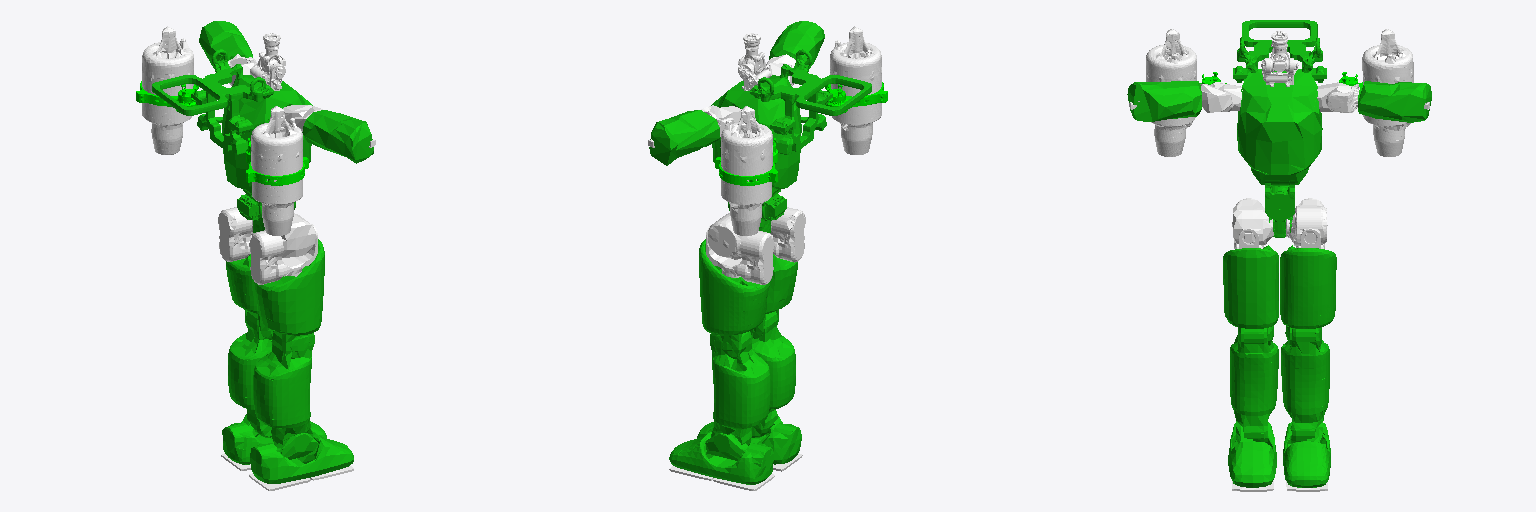
--- What the picture shows (computed from the rendered views, not written in the file) ---
The picture shows the robot from 3 angles, left to right: view 1: azimuth 30°, elevation 25°; view 2: azimuth 150°, elevation 25°; view 3: azimuth 270°, elevation 25°; orthographic projection.
Robot: iCub — 64 links, 63 joints (26 revolute, 37 fixed); root link root_link; default pose: all joints at 0 but 2 set to mid-range because 0 is outside their limits (l_shoulder_roll = 1.53, r_shoulder_roll = 1.53).
Links seen in each view (by area): view 1: r_lower_leg, chest_r_jet_turbine, chest_jetpack, r_hip_3, chest_l_jet_turbine, r_ankle_2, l_lower_leg, chest, r_upper_arm, r_hip_2, l_hip_2, l_upper_arm (+8 smaller); view 2: l_lower_leg, chest_l_jet_turbine, chest_jetpack, l_hip_3, chest_r_jet_turbine, l_ankle_2, r_lower_leg, chest, l_upper_arm, l_hip_2, r_hip_2, r_upper_arm (+7 smaller); view 3: chest, r_lower_leg, l_lower_leg, l_hip_3, r_hip_3, chest_l_jet_turbine, chest_r_jet_turbine, chest_jetpack, r_upper_arm, l_upper_arm, l_ankle_2, r_ankle_2 (+7 smaller).
Link boxes in pixels (x1,y1,x2,y2): r_lower_leg: [253, 331, 312, 445]; chest_r_jet_turbine: [251, 106, 302, 235]; chest_jetpack: [152, 49, 273, 154]; r_hip_3: [254, 239, 324, 335]; chest_l_jet_turbine: [142, 26, 193, 154]; r_ankle_2: [250, 431, 353, 483]; l_lower_leg: [228, 311, 271, 437]; chest: [222, 75, 312, 188]; r_upper_arm: [302, 110, 373, 163]; r_hip_2: [249, 224, 317, 284]; l_hip_2: [218, 207, 252, 261]; l_upper_arm: [199, 21, 252, 68]; l_lower_leg: [711, 331, 770, 445]; chest_l_jet_turbine: [720, 106, 772, 235]; chest_jetpack: [750, 49, 871, 154]; l_hip_3: [699, 239, 769, 335]; chest_r_jet_turbine: [830, 26, 881, 154]; l_ankle_2: [669, 432, 773, 484]; r_lower_leg: [752, 311, 795, 437]; chest: [711, 75, 801, 188]; l_upper_arm: [649, 110, 719, 165]; l_hip_2: [706, 225, 774, 284]; r_hip_2: [771, 207, 805, 262]; r_upper_arm: [769, 21, 824, 68]; chest: [1237, 69, 1322, 174]; r_lower_leg: [1230, 327, 1278, 443]; l_lower_leg: [1281, 327, 1329, 443]; l_hip_3: [1280, 245, 1336, 328]; r_hip_3: [1223, 245, 1278, 328]; chest_l_jet_turbine: [1362, 29, 1413, 156]; chest_r_jet_turbine: [1146, 29, 1196, 156]; chest_jetpack: [1233, 20, 1326, 82]; r_upper_arm: [1127, 81, 1201, 121]; l_upper_arm: [1358, 81, 1431, 122]; l_ankle_2: [1283, 422, 1330, 487]; r_ankle_2: [1228, 422, 1276, 487].
Size in the robot's own frame: 0.4587 by 0.727 by 1.13 metres.
Meshes: 43 distinct files referenced, 40 mesh visuals loaded (40 ASCII STL); not drawn: 3 (reference not matched to a file when rendering), 4 (reference in a form the renderer does not follow; not among the files counted above).

The robot description file, URDF, robot "iCub":
<robot name="iCub">
  <link name="root_link">
    <inertial>
      <origin xyz="0.0035506 -0.00014959200000000001 0.024519000000000013" rpy="0 0 -1.5707963267948966"/>
      <mass value="2.5751"/>
      <inertia ixx="0.004051489764137304" ixy="-2.0525354991945143e-06" ixz="-1.200186769383287e-05" iyy="0.004466379288694287" iyz="0.00011702292411912923" izz="0.002537512875376926"/>
    </inertial>
    <visual>
      <origin xyz="0 0 0.313858" rpy="0 0 -1.5707963267948966"/>
      <geometry>
        <mesh filename="package://iRonCub-Mk3/iRonCub/meshes/stl/sim_icub3_root_link_prt.stl" scale="0.001 0.001 0.001"/>
      </geometry>
      <material name="green">
        <color rgba="0.1 0.8 0.1 1"/>
      </material>
    </visual>
    <collision>
      <origin xyz="0 0 0.313858" rpy="0 0 -1.5707963267948966"/>
      <geometry>
        <mesh filename="package://iRonCub-Mk3/iRonCub/meshes/stl/sim_icub3_root_link_prt.stl" scale="0.001 0.001 0.001"/>
      </geometry>
    </collision>
  </link>
  <link name="l_hip_1">
    <inertial>
      <origin xyz="-0.004074100000000001 0.028123299999999997 -0.0007250000000000312" rpy="0 0 -1.5707963267948966"/>
      <mass value="2.1611"/>
      <inertia ixx="0.002595352643142238" ixy="-6.263538591577025e-05" ixz="2.7731363927618977e-06" iyy="0.0021193350821535318" iyz="-1.2725390435109447e-05" izz="0.0023619854835245473"/>
    </inertial>
    <visual>
      <origin xyz="-0.021600000000000064 -0.04044999999999981 0.31385800000000025" rpy="0 0 -1.5707963267948966"/>
      <geometry>
        <mesh filename="package://iRonCub-Mk3/iRonCub/meshes/stl/sim_icub3_l_hip_1_prt.stl" scale="0.001 0.001 0.001"/>
      </geometry>
      <material name="black">
        <color rgba="1 1 1 1"/>
      </material>
    </visual>
    <collision>
      <origin xyz="-0.021600000000000064 -0.04044999999999981 0.31385800000000025" rpy="0 0 -1.5707963267948966"/>
      <geometry>
        <mesh filename="package://iRonCub-Mk3/iRonCub/meshes/stl/sim_icub3_l_hip_1_prt.stl" scale="0.001 0.001 0.001"/>
      </geometry>
    </collision>
  </link>
  <joint name="l_hip_pitch" type="revolute">
    <origin xyz="0.0216 0.04045000000000001 0" rpy="0 0 0"/>
    <axis xyz="0.0 -1.0 0.0"/>
    <parent link="root_link"/>
    <child link="l_hip_1"/>
    <limit effort="50000" lower="-0.7853981633974483" upper="2.007128639793479" velocity="120.0"/>
    <dynamics damping="2.0" friction="0.0"/>
  </joint>
  <link name="l_hip_2">
    <inertial>
      <origin xyz="-0.003963800000000003 5.489999999999662e-05 -0.037538000000000016" rpy="0 0 -1.5707963267948966"/>
      <mass value="1.7731"/>
      <inertia ixx="0.005228411714595798" ixy="-4.083551966339624e-06" ixz="3.1651054869901453e-06" iyy="0.0029657585348029296" iyz="0.0009461829267401466" izz="0.0032766682222500967"/>
    </inertial>
    <visual>
      <origin xyz="0.025649999999999822 -0.07354999999999978 0.3228580000000002" rpy="0 0 -1.5707963267948966"/>
      <geometry>
        <mesh filename="package://iRonCub-Mk3/iRonCub/meshes/stl/sim_icub3_l_hip_2_prt.stl" scale="0.001 0.001 0.001"/>
      </geometry>
      <material name="red">
        <color rgba="1 1 1 1"/>
      </material>
    </visual>
    <collision>
      <origin xyz="0.025649999999999822 -0.07354999999999978 0.3228580000000002" rpy="0 0 -1.5707963267948966"/>
      <geometry>
        <mesh filename="package://iRonCub-Mk3/iRonCub/meshes/stl/sim_icub3_l_hip_2_prt.stl" scale="0.001 0.001 0.001"/>
      </geometry>
    </collision>
  </link>
  <joint name="l_hip_roll" type="revolute">
    <origin xyz="-0.04725 0.0331 -0.009000000000000008" rpy="0 0 0"/>
    <axis xyz="1.0 0.0 0.0"/>
    <parent link="l_hip_1"/>
    <child link="l_hip_2"/>
    <limit effort="50000" lower="-0.17453292519943295" upper="1.9547687622336491" velocity="120.0"/>
    <dynamics damping="2.0" friction="0.0"/>
  </joint>
  <link name="l_hip_3">
    <inertial>
      <origin xyz="0.0024416999999999998 -0.012306900000000003 -0.03819900000000004" rpy="0 0 -1.5707963267948966"/>
      <mass value="2.43975"/>
      <inertia ixx="0.0044412883972056874" ixy="3.3190647191151945e-06" ixz="-0.0001500433647365573" iyy="0.004161531735667295" iyz="1.0495343014441162e-05" izz="0.004168493190874654"/>
    </inertial>
    <visual>
      <origin xyz="-0.011050000000000178 -0.07354999999999977 0.41255800000000004" rpy="0 0 -1.5707963267948966"/>
      <geometry>
        <mesh filename="package://iRonCub-Mk3/iRonCub/meshes/stl/sim_icub3_l_hip_3_prt.stl" scale="0.001 0.001 0.001"/>
      </geometry>
      <material name="blue">
        <color rgba="0.1 0.8 0.1 1"/>
      </material>
    </visual>
    <collision>
      <origin xyz="-0.011050000000000178 -0.07354999999999977 0.41255800000000004" rpy="0 0 -1.5707963267948966"/>
      <geometry>
        <mesh filename="package://iRonCub-Mk3/iRonCub/meshes/stl/sim_icub3_l_hip_3_prt.stl" scale="0.001 0.001 0.001"/>
      </geometry>
    </collision>
  </link>
  <joint name="l_leg_ft_sensor" type="fixed">
    <origin xyz="0.036699999999999997 0 -0.08969999999999995" rpy="0 0 0"/>
    <parent link="l_hip_2"/>
    <child link="l_hip_3"/>
    <dynamics damping="0.1"/>
  </joint>
  <link name="l_upper_leg">
    <inertial>
      <origin xyz="0.005238099999999999 0.001499300000000009 -0.0518519999999999" rpy="0 0 -1.5707963267948966"/>
      <mass value="0.90926"/>
      <inertia ixx="0.0018580448030305287" ixy="2.4769869343548534e-05" ixz="-9.921040799831542e-05" iyy="0.0023253336863419895" iyz="0.00021961146368491691" izz="0.0010116953240355718"/>
    </inertial>
    <visual>
      <origin xyz="-0.011050000000000167 -0.05854999999999983 0.48345800000000017" rpy="0 0 -1.5707963267948966"/>
      <geometry>
        <mesh filename="package://iRonCub-Mk3/iRonCub/meshes/stl/sim_icub3_l_upper_leg_prt.stl" scale="0.001 0.001 0.001"/>
      </geometry>
      <material name="yellow">
        <color rgba="0.1 0.8 0.1 1"/>
      </material>
    </visual>
    <collision>
      <origin xyz="-0.011050000000000167 -0.05854999999999983 0.48345800000000017" rpy="0 0 -1.5707963267948966"/>
      <geometry>
        <mesh filename="package://iRonCub-Mk3/iRonCub/meshes/stl/sim_icub3_l_upper_leg_prt.stl" scale="0.001 0.001 0.001"/>
      </geometry>
    </collision>
  </link>
  <joint name="l_hip_yaw" type="revolute">
    <origin xyz="0 -0.015000000000000006 -0.07090000000000007" rpy="0 0 0"/>
    <axis xyz="0.0 0.0 1.0"/>
    <parent link="l_hip_3"/>
    <child link="l_upper_leg"/>
    <limit effort="50000" lower="-1.3962634015954636" upper="1.3962634015954636" velocity="120.0"/>
    <dynamics damping="2.0" friction="0.0"/>
  </joint>
  <link name="l_lower_leg">
    <inertial>
      <origin xyz="-0.0132211 -0.022063200000000005 -0.12639599999999995" rpy="0 0 -1.5707963267948966"/>
      <mass value="5.3241"/>
      <inertia ixx="0.05824701558729114" ixy="0.00010624602688798144" ixz="0.00032177799357201414" iyy="0.055706072617469723" iyz="-0.00018962183345080946" izz="0.006070627555679843"/>
    </inertial>
    <visual>
      <origin xyz="-0.026050000000000243 -0.08344999999999969 0.5896580000000001" rpy="0 0 -1.5707963267948966"/>
      <geometry>
        <mesh filename="package://iRonCub-Mk3/iRonCub/meshes/stl/sim_icub3_l_lower_leg_prt.stl" scale="0.001 0.001 0.001"/>
      </geometry>
      <material name="pink">
        <color rgba="0.1 0.8 0.1 1"/>
      </material>
    </visual>
    <collision>
      <origin xyz="-0.026050000000000243 -0.08344999999999969 0.5896580000000001" rpy="0 0 -1.5707963267948966"/>
      <geometry>
        <mesh filename="package://iRonCub-Mk3/iRonCub/meshes/stl/sim_icub3_l_lower_leg_prt.stl" scale="0.001 0.001 0.001"/>
      </geometry>
    </collision>
  </link>
  <joint name="l_knee" type="revolute">
    <origin xyz="0.015 0.024900000000000012 -0.10619999999999996" rpy="0 0 0"/>
    <axis xyz="0.0 -1.0 0.0"/>
    <parent link="l_upper_leg"/>
    <child link="l_lower_leg"/>
    <limit effort="50000" lower="-1.2217304763960306" upper="0.08726646259971647" velocity="120.0"/>
    <dynamics damping="2.0" friction="0.0"/>
  </joint>
  <link name="l_ankle_1">
    <inertial>
      <origin xyz="-0.0056708999999999996 -0.0004776000000000086 -0.015197000000000016" rpy="0 0 -1.5707963267948966"/>
      <mass value="0.36569"/>
      <inertia ixx="0.0006919069701304677" ixy="3.642221266176245e-05" ixz="6.0306968718434186e-05" iyy="0.00029801214087017225" iyz="-2.6804257582408287e-05" izz="0.0005496547611177806"/>
    </inertial>
    <visual>
      <origin xyz="-0.026050000000000052 -0.08295000000000005 0.8456470000000003" rpy="0 0 -1.5707963267948966"/>
      <geometry>
        <mesh filename="package://iRonCub-Mk3/iRonCub/meshes/stl/sim_icub3_l_ankle_1_prt.stl" scale="0.001 0.001 0.001"/>
      </geometry>
      <material name="cyan">
        <color rgba="0.1 0.8 0.1 1"/>
      </material>
    </visual>
    <collision>
      <origin xyz="-0.026050000000000052 -0.08295000000000005 0.8456470000000003" rpy="0 0 -1.5707963267948966"/>
      <geometry>
        <mesh filename="package://iRonCub-Mk3/iRonCub/meshes/stl/sim_icub3_l_ankle_1_prt.stl" scale="0.001 0.001 0.001"/>
      </geometry>
    </collision>
  </link>
  <joint name="l_ankle_pitch" type="revolute">
    <origin xyz="0 -0.0005000000000000004 -0.255989" rpy="0 0 0"/>
    <axis xyz="0.0 1.0 0.0"/>
    <parent link="l_lower_leg"/>
    <child link="l_ankle_1"/>
    <limit effort="50000" lower="-0.7853981633974483" upper="0.7853981633974483" velocity="120.0"/>
    <dynamics damping="2.0" friction="0.0"/>
  </joint>
  <link name="l_ankle_2">
    <inertial>
      <origin xyz="0.0417048 -5.500000000001337e-05 -0.02565099999999998" rpy="0 0 -1.5707963267948966"/>
      <mass value="1.53465"/>
      <inertia ixx="0.008276628548706496" ixy="5.786254688421673e-06" ixz="-4.092109028187411e-06" iyy="0.0017004608262408357" iyz="0.0012330199976826493" izz="0.008063087568467178"/>
    </inertial>
    <visual>
      <origin xyz="0.026699999999999342 -0.0647500000000001 0.8806470000000008" rpy="0 0 -1.5707963267948966"/>
      <geometry>
        <mesh filename="package://iRonCub-Mk3/iRonCub/meshes/stl/sim_icub3_l_ankle_2_prt.stl" scale="0.001 0.001 0.001"/>
      </geometry>
      <material name="green">
        <color rgba="0.1 0.8 0.1 1"/>
      </material>
    </visual>
    <collision>
      <origin xyz="0.026699999999999342 -0.0647500000000001 0.8806470000000008" rpy="0 0 -1.5707963267948966"/>
      <geometry>
        <mesh filename="package://iRonCub-Mk3/iRonCub/meshes/stl/sim_icub3_l_ankle_2_prt.stl" scale="0.001 0.001 0.001"/>
      </geometry>
    </collision>
  </link>
  <joint name="l_ankle_roll" type="revolute">
    <origin xyz="-0.052750000000000005 -0.018200000000000008 -0.03500000000000003" rpy="0 0 0"/>
    <axis xyz="1.0 0.0 0.0"/>
    <parent link="l_ankle_1"/>
    <child link="l_ankle_2"/>
    <limit effort="50000" lower="-0.4363323129985824" upper="0.4363323129985824" velocity="120.0"/>
    <dynamics damping="2.0" friction="0.0"/>
  </joint>
  <link name="l_foot_rear">
    <inertial>
      <origin xyz="0.0005056000000000001 3.350000000000575e-05 0.003658999999999968" rpy="0 0 -1.5707963267948966"/>
      <mass value="0.17851"/>
      <inertia ixx="0.00028386984946481193" ixy="-3.8140209422126887e-07" ixz="3.3779281136245455e-06" iyy="0.00022675202580603227" iyz="8.141588837428499e-06" izz="0.00036516477016163983"/>
    </inertial>
    <visual>
      <origin xyz="0.010699999999999342 -0.06475000000000009 0.9464470000000004" rpy="0 0 -1.5707963267948966"/>
      <geometry>
        <mesh filename="package://iRonCub-Mk3/iRonCub/meshes/stl/sim_icub3_l_foot_rear_prt.stl" scale="0.001 0.001 0.001"/>
      </geometry>
      <material name="l_foot_rear_color">
        <color rgba="1.0 1.0 1.0 1.0"/>
      </material>
    </visual>
    <collision>
      <origin xyz="0.010699999999999342 -0.06475000000000009 0.9464470000000004" rpy="0 0 -1.5707963267948966"/>
      <geometry>
        <mesh filename="package://iRonCub-Mk3/iRonCub/meshes/stl/sim_icub3_l_foot_rear_prt.stl" scale="0.001 0.001 0.001"/>
      </geometry>
    </collision>
  </link>
  <joint name="l_foot_rear_ft_sensor" type="fixed">
    <origin xyz="0.016 0 -0.06579999999999997" rpy="0 0 0"/>
    <parent link="l_ankle_2"/>
    <child link="l_foot_rear"/>
    <dynamics damping="0.1"/>
  </joint>
  <link name="l_sole"/>
  <joint name="l_sole_fixed_joint" type="fixed">
    <origin xyz="0.05963 0 0" rpy="0 0 0"/>
    <parent link="l_foot_rear"/>
    <child link="l_sole"/>
    <dynamics damping="0.1"/>
  </joint>
  <link name="l_sole_3"/>
  <joint name="l_sole_3_fixed_joint" type="fixed">
    <origin xyz="-0.035 -0.02475 0" rpy="0 0 0"/>
    <parent link="l_foot_rear"/>
    <child link="l_sole_3"/>
    <dynamics damping="0.1"/>
  </joint>
  <link name="l_sole_4"/>
  <joint name="l_sole_4_fixed_joint" type="fixed">
    <origin xyz="-0.035 0.03025 0" rpy="0 0 0"/>
    <parent link="l_foot_rear"/>
    <child link="l_sole_4"/>
    <dynamics damping="0.1"/>
  </joint>
  <link name="l_foot_front">
    <inertial>
      <origin xyz="7.700000000000762e-05 -3.990000000000937e-05 0.004256999999999955" rpy="0 0 -1.5707963267948966"/>
      <mass value="0.17896"/>
      <inertia ixx="0.00032486721722121964" ixy="3.5467003209527003e-07" ixz="2.7144049104682455e-07" iyy="0.00025600096782908466" iyz="3.4960507170104935e-05" izz="0.00037767895393194076"/>
    </inertial>
    <visual>
      <origin xyz="-0.10855000000000063 -0.06475000000000009 0.9464470000000004" rpy="0 0 -1.5707963267948966"/>
      <geometry>
        <mesh filename="package://iRonCub-Mk3/iRonCub/meshes/stl/sim_icub3_l_foot_front_prt.stl" scale="0.001 0.001 0.001"/>
      </geometry>
      <material name="l_foot_front_color">
        <color rgba="1.0 1.0 1.0 1.0"/>
      </material>
    </visual>
    <collision>
      <origin xyz="-0.10855000000000063 -0.06475000000000009 0.9464470000000004" rpy="0 0 -1.5707963267948966"/>
      <geometry>
        <mesh filename="package://iRonCub-Mk3/iRonCub/meshes/stl/sim_icub3_l_foot_front_prt.stl" scale="0.001 0.001 0.001"/>
      </geometry>
    </collision>
  </link>
  <joint name="l_foot_front_ft_sensor" type="fixed">
    <origin xyz="0.13524999999999998 0 -0.06579999999999997" rpy="0 0 0"/>
    <parent link="l_ankle_2"/>
    <child link="l_foot_front"/>
    <dynamics damping="0.1"/>
  </joint>
  <link name="l_sole_1"/>
  <joint name="l_sole_1_fixed_joint" type="fixed">
    <origin xyz="0.02500000000000001 0.025249999999999995 0" rpy="0 0 0"/>
    <parent link="l_foot_front"/>
    <child link="l_sole_1"/>
    <dynamics damping="0.1"/>
  </joint>
  <link name="l_sole_2"/>
  <joint name="l_sole_2_fixed_joint" type="fixed">
    <origin xyz="0.02500000000000001 -0.02475 0" rpy="0 0 0"/>
    <parent link="l_foot_front"/>
    <child link="l_sole_2"/>
    <dynamics damping="0.1"/>
  </joint>
  <link name="r_hip_1">
    <inertial>
      <origin xyz="-0.004106499999999999 -0.02810980000000001 -0.0008360000000000034" rpy="0 0 -1.5707963267948966"/>
      <mass value="2.1623"/>
      <inertia ixx="0.002675989970439473" ixy="6.426984653122192e-05" ixz="-6.447456052305588e-06" iyy="0.0021990073364667796" iyz="-1.5695577440979572e-05" izz="0.002366627191660443"/>
    </inertial>
    <visual>
      <origin xyz="-0.0216 0.04054999999999986 0.313858" rpy="0 0 -1.5707963267948966"/>
      <geometry>
        <mesh filename="package://iRonCub-Mk3/iRonCub/meshes/stl/sim_icub3_r_hip_1_prt.stl" scale="0.001 0.001 0.001"/>
      </geometry>
      <material name="white">
        <color rgba="1 1 1 1"/>
      </material>
    </visual>
    <collision>
      <origin xyz="-0.0216 0.04054999999999986 0.313858" rpy="0 0 -1.5707963267948966"/>
      <geometry>
        <mesh filename="package://iRonCub-Mk3/iRonCub/meshes/stl/sim_icub3_r_hip_1_prt.stl" scale="0.001 0.001 0.001"/>
      </geometry>
    </collision>
  </link>
  <joint name="r_hip_pitch" type="revolute">
    <origin xyz="0.0216 -0.040549999999999996 0" rpy="0 0 0"/>
    <axis xyz="0.0 -1.0 0.0"/>
    <parent link="root_link"/>
    <child link="r_hip_1"/>
    <limit effort="50000" lower="-0.7853981633974483" upper="2.007128639793479" velocity="120.0"/>
    <dynamics damping="2.0" friction="0.0"/>
  </joint>
  <link name="r_hip_2">
    <inertial>
      <origin xyz="-0.003963499999999998 -7.010000000000349e-05 -0.03753499999999993" rpy="0 0 -1.5707963267948966"/>
      <mass value="1.7731"/>
      <inertia ixx="0.005229204654206729" ixy="4.628243459077994e-06" ixz="-3.2636330686460046e-06" iyy="0.0029659325947175245" iyz="0.0009467254134739666" izz="0.00327641680237346"/>
    </inertial>
    <visual>
      <origin xyz="0.025699999999999973 0.07364999999999984 0.3228580000000001" rpy="0 0 -1.5707963267948966"/>
      <geometry>
        <mesh filename="package://iRonCub-Mk3/iRonCub/meshes/stl/sim_icub3_r_hip_2_prt.stl" scale="0.001 0.001 0.001"/>
      </geometry>
      <material name="dblue">
        <color rgba="1 1 1 1"/>
      </material>
    </visual>
    <collision>
      <origin xyz="0.025699999999999973 0.07364999999999984 0.3228580000000001" rpy="0 0 -1.5707963267948966"/>
      <geometry>
        <mesh filename="package://iRonCub-Mk3/iRonCub/meshes/stl/sim_icub3_r_hip_2_prt.stl" scale="0.001 0.001 0.001"/>
      </geometry>
    </collision>
  </link>
  <joint name="r_hip_roll" type="revolute">
    <origin xyz="-0.0473 -0.03310000000000001 -0.009000000000000008" rpy="0 0 0"/>
    <axis xyz="-1.0 0.0 0.0"/>
    <parent link="r_hip_1"/>
    <child link="r_hip_2"/>
    <limit effort="50000" lower="-0.17453292519943295" upper="1.9547687622336491" velocity="120.0"/>
    <dynamics damping="2.0" friction="0.0"/>
  </joint>
  <link name="r_hip_3">
    <inertial>
      <origin xyz="0.0024329000000000017 0.01233370000000001 -0.038242000000000054" rpy="0 0 -1.5707963267948966"/>
      <mass value="2.43975"/>
      <inertia ixx="0.004485784047483899" ixy="-2.3350782161357655e-06" ixz="0.0001440226606671166" iyy="0.00420681558758196" iyz="1.1762844743205253e-05" izz="0.0041711798557694454"/>
    </inertial>
    <visual>
      <origin xyz="-0.011000000000000029 0.07364999999999984 0.41255800000000004" rpy="0 0 -1.5707963267948966"/>
      <geometry>
        <mesh filename="package://iRonCub-Mk3/iRonCub/meshes/stl/sim_icub3_r_hip_3_prt.stl" scale="0.001 0.001 0.001"/>
      </geometry>
      <material name="dgreen">
        <color rgba="0.1 0.8 0.1 1"/>
      </material>
    </visual>
    <collision>
      <origin xyz="-0.011000000000000029 0.07364999999999984 0.41255800000000004" rpy="0 0 -1.5707963267948966"/>
      <geometry>
        <mesh filename="package://iRonCub-Mk3/iRonCub/meshes/stl/sim_icub3_r_hip_3_prt.stl" scale="0.001 0.001 0.001"/>
      </geometry>
    </collision>
  </link>
  <joint name="r_leg_ft_sensor" type="fixed">
    <origin xyz="0.036699999999999997 0 -0.08969999999999995" rpy="0 0 0"/>
    <parent link="r_hip_2"/>
    <child link="r_hip_3"/>
    <dynamics damping="0.1"/>
  </joint>
  <link name="r_upper_leg">
    <inertial>
      <origin xyz="0.005240300000000003 -0.0014998000000000025 -0.05185799999999996" rpy="0 0 -1.5707963267948966"/>
      <mass value="0.90926"/>
      <inertia ixx="0.0018609457769770859" ixy="-2.472258346821965e-05" ixz="9.915722347596187e-05" iyy="0.0023282830098543227" iyz="0.00022002726995059012" izz="0.001011608294817175"/>
    </inertial>
    <visual>
      <origin xyz="-0.011000000000000012 0.05864999999999984 0.48345800000000005" rpy="0 0 -1.5707963267948966"/>
      <geometry>
        <mesh filename="package://iRonCub-Mk3/iRonCub/meshes/stl/sim_icub3_r_upper_leg_prt.stl" scale="0.001 0.001 0.001"/>
      </geometry>
      <material name="gray">
        <color rgba="0.1 0.8 0.1 1"/>
      </material>
    </visual>
    <collision>
      <origin xyz="-0.011000000000000012 0.05864999999999984 0.48345800000000005" rpy="0 0 -1.5707963267948966"/>
      <geometry>
        <mesh filename="package://iRonCub-Mk3/iRonCub/meshes/stl/sim_icub3_r_upper_leg_prt.stl" scale="0.001 0.001 0.001"/>
      </geometry>
    </collision>
  </link>
  <joint name="r_hip_yaw" type="revolute">
    <origin xyz="0 0.015000000000000006 -0.07090000000000007" rpy="0 0 0"/>
    <axis xyz="0.0 0.0 -1.0"/>
    <parent link="r_hip_3"/>
    <child link="r_upper_leg"/>
    <limit effort="50000" lower="-1.3962634015954636" upper="1.3962634015954636" velocity="120.0"/>
    <dynamics damping="2.0" friction="0.0"/>
  </joint>
  <link name="r_lower_leg">
    <inertial>
      <origin xyz="-0.013102400000000002 0.021986699999999998 -0.127262" rpy="0 0 -1.5707963267948966"/>
      <mass value="5.3241"/>
      <inertia ixx="0.058569724854460666" ixy="-0.00011067195586576853" ixz="-0.0002647293063069585" iyy="0.05601996956627755" iyz="-0.00013332765738821662" izz="0.006068235025831327"/>
    </inertial>
    <visual>
      <origin xyz="-0.026000000000000037 0.0835499999999998 0.589658" rpy="0 0 -1.5707963267948966"/>
      <geometry>
        <mesh filename="package://iRonCub-Mk3/iRonCub/meshes/stl/sim_icub3_r_lower_leg_prt.stl" scale="0.001 0.001 0.001"/>
      </geometry>
      <material name="green">
        <color rgba="0.1 0.8 0.1 1"/>
      </material>
    </visual>
    <collision>
      <origin xyz="-0.026000000000000037 0.0835499999999998 0.589658" rpy="0 0 -1.5707963267948966"/>
      <geometry>
        <mesh filename="package://iRonCub-Mk3/iRonCub/meshes/stl/sim_icub3_r_lower_leg_prt.stl" scale="0.001 0.001 0.001"/>
      </geometry>
    </collision>
  </link>
  <joint name="r_knee" type="revolute">
    <origin xyz="0.015000000000000003 -0.0249 -0.10619999999999996" rpy="0 0 0"/>
    <axis xyz="0.0 -1.0 0.0"/>
    <parent link="r_upper_leg"/>
    <child link="r_lower_leg"/>
    <limit effort="50000" lower="-1.2217304763960306" upper="0.08726646259971647" velocity="120.0"/>
    <dynamics damping="2.0" friction="0.0"/>
  </joint>
  <link name="r_ankle_1">
    <inertial>
      <origin xyz="-0.005665800000000002 0.0004764000000000018 -0.015185999999999922" rpy="0 0 -1.5707963267948966"/>
      <mass value="0.36569"/>
      <inertia ixx="0.0007008795637504032" ixy="-3.63258049040399e-05" ixz="-6.07134864852001e-05" iyy="0.00030702728154466944" iyz="-2.6127082529919777e-05" izz="0.0005495280869326084"/>
    </inertial>
    <visual>
      <origin xyz="-0.026000000000000245 0.08304999999999924 0.8456470000000003" rpy="0 0 -1.5707963267948966"/>
      <geometry>
        <mesh filename="package://iRonCub-Mk3/iRonCub/meshes/stl/sim_icub3_r_ankle_1_prt.stl" scale="0.001 0.001 0.001"/>
      </geometry>
      <material name="black">
        <color rgba="0.1 0.8 0.1 1"/>
      </material>
    </visual>
    <collision>
      <origin xyz="-0.026000000000000245 0.08304999999999924 0.8456470000000003" rpy="0 0 -1.5707963267948966"/>
      <geometry>
        <mesh filename="package://iRonCub-Mk3/iRonCub/meshes/stl/sim_icub3_r_ankle_1_prt.stl" scale="0.001 0.001 0.001"/>
      </geometry>
    </collision>
  </link>
  <joint name="r_ankle_pitch" type="revolute">
    <origin xyz="0 0.0005000000000000004 -0.255989" rpy="0 0 0"/>
    <axis xyz="0.0 1.0 0.0"/>
    <parent link="r_lower_leg"/>
    <child link="r_ankle_1"/>
    <limit effort="50000" lower="-0.7853981633974483" upper="0.7853981633974483" velocity="120.0"/>
    <dynamics damping="2.0" friction="0.0"/>
  </joint>
  <link name="r_ankle_2">
    <inertial>
      <origin xyz="0.0417371 5.619999999997849e-05 -0.025592999999999977" rpy="0 0 -1.5707963267948966"/>
      <mass value="1.53465"/>
      <inertia ixx="0.008359137510182012" ixy="-6.658498141958317e-06" ixz="1.6236202151564518e-06" iyy="0.001778865481574069" iyz="0.001241649614839054" izz="0.008067236320993203"/>
    </inertial>
    <visual>
      <origin xyz="0.026749999999999875 0.0648499999999391 0.8806470000000108" rpy="0 0 -1.5707963267948966"/>
      <geometry>
        <mesh filename="package://iRonCub-Mk3/iRonCub/meshes/stl/sim_icub3_r_ankle_2_prt.stl" scale="0.001 0.001 0.001"/>
      </geometry>
      <material name="red">
        <color rgba="0.1 0.8 0.1 1"/>
      </material>
    </visual>
    <collision>
      <origin xyz="0.026749999999999875 0.0648499999999391 0.8806470000000108" rpy="0 0 -1.5707963267948966"/>
      <geometry>
        <mesh filename="package://iRonCub-Mk3/iRonCub/meshes/stl/sim_icub3_r_ankle_2_prt.stl" scale="0.001 0.001 0.001"/>
      </geometry>
    </collision>
  </link>
  <joint name="r_ankle_roll" type="revolute">
    <origin xyz="-0.052750000000000005 0.018200000000000008 -0.03500000000000003" rpy="0 0 0"/>
    <axis xyz="-1.0 0.0 0.0"/>
    <parent link="r_ankle_1"/>
    <child link="r_ankle_2"/>
    <limit effort="50000" lower="-0.4363323129985824" upper="0.4363323129985824" velocity="120.0"/>
    <dynamics damping="2.0" friction="0.0"/>
  </joint>
  <link name="r_foot_front">
    <inertial>
      <origin xyz="-0.0004180000000000017 0.0004849999999999993 0.005581000000000058" rpy="0 0 -1.5707963267948966"/>
      <mass value="0.17964"/>
      <inertia ixx="0.0004475629748133475" ixy="-1.1622018441861841e-05" ixz="2.9686391650024495e-05" iyy="0.0003761336092973683" iyz="7.056362242091155e-05" izz="0.00040019707061844293"/>
    </inertial>
    <visual>
      <origin xyz="-0.10850000000000012 0.0648499999999391 0.9464470000000105" rpy="0 0 -1.5707963267948966"/>
      <geometry>
        <mesh filename="package://iRonCub-Mk3/iRonCub/meshes/stl/sim_icub3_r_foot_front_prt.stl" scale="0.001 0.001 0.001"/>
      </geometry>
      <material name="r_foot_front_color">
        <color rgba="1.0 1.0 1.0 1.0"/>
      </material>
    </visual>
    <collision>
      <origin xyz="-0.10850000000000012 0.0648499999999391 0.9464470000000105" rpy="0 0 -1.5707963267948966"/>
      <geometry>
        <mesh filename="package://iRonCub-Mk3/iRonCub/meshes/stl/sim_icub3_r_foot_front_prt.stl" scale="0.001 0.001 0.001"/>
      </geometry>
    </collision>
  </link>
  <joint name="r_foot_front_ft_sensor" type="fixed">
    <origin xyz="0.13525 0 -0.06579999999999997" rpy="0 0 0"/>
    <parent link="r_ankle_2"/>
    <child link="r_foot_front"/>
    <dynamics damping="0.1"/>
  </joint>
  <link name="r_sole_1"/>
  <joint name="r_sole_1_fixed_joint" type="fixed">
    <origin xyz="0.02500000000000001 -0.025150000000000006 0" rpy="0 0 0"/>
    <parent link="r_foot_front"/>
    <child link="r_sole_1"/>
    <dynamics damping="0.1"/>
  </joint>
  <link name="r_sole_2"/>
  <joint name="r_sole_2_fixed_joint" type="fixed">
    <origin xyz="0.02500000000000001 0.02484999999999999 0" rpy="0 0 0"/>
    <parent link="r_foot_front"/>
    <child link="r_sole_2"/>
    <dynamics damping="0.1"/>
  </joint>
  <link name="r_foot_rear">
    <inertial>
      <origin xyz="0.0006180999999999999 7.079999999998199e-05 0.003514000000000017" rpy="0 0 -1.5707963267948966"/>
      <mass value="0.17874"/>
      <inertia ixx="0.00023837060598027492" ixy="1.5972601165325875e-07" ixz="2.851962872955676e-06" iyy="0.00018229756818021977" iyz="-1.2898142814635283e-06" izz="0.0003645245458529223"/>
    </inertial>
    <visual>
      <origin xyz="0.010749999999999876 0.0648499999999391 0.9464470000000105" rpy="0 0 -1.5707963267948966"/>
      <geometry>
        <mesh filename="package://iRonCub-Mk3/iRonCub/meshes/stl/sim_icub3_r_foot_rear_prt.stl" scale="0.001 0.001 0.001"/>
      </geometry>
      <material name="r_foot_rear_color">
        <color rgba="1.0 1.0 1.0 1.0"/>
      </material>
    </visual>
    <collision>
      <origin xyz="0.010749999999999876 0.0648499999999391 0.9464470000000105" rpy="0 0 -1.5707963267948966"/>
      <geometry>
        <mesh filename="package://iRonCub-Mk3/iRonCub/meshes/stl/sim_icub3_r_foot_rear_prt.stl" scale="0.001 0.001 0.001"/>
      </geometry>
    </collision>
  </link>
  <joint name="r_foot_rear_ft_sensor" type="fixed">
    <origin xyz="0.016 0 -0.06579999999999997" rpy="0 0 0"/>
    <parent link="r_ankle_2"/>
    <child link="r_foot_rear"/>
    <dynamics damping="0.1"/>
  </joint>
  <link name="r_sole"/>
  <joint name="r_sole_fixed_joint" type="fixed">
    <origin xyz="0.05963000000000001 0 0" rpy="0 0 0"/>
    <parent link="r_foot_rear"/>
    <child link="r_sole"/>
    <dynamics damping="0.1"/>
  </joint>
  <link name="r_sole_4"/>
  <joint name="r_sole_4_fixed_joint" type="fixed">
    <origin xyz="-0.034999999999999996 -0.03015000000000001 0" rpy="0 0 0"/>
    <parent link="r_foot_rear"/>
    <child link="r_sole_4"/>
    <dynamics damping="0.1"/>
  </joint>
  <link name="r_sole_3"/>
  <joint name="r_sole_3_fixed_joint" type="fixed">
    <origin xyz="-0.034999999999999996 0.02484999999999999 0" rpy="0 0 0"/>
    <parent link="r_foot_rear"/>
    <child link="r_sole_3"/>
    <dynamics damping="0.1"/>
  </joint>
  <link name="torso_1">
    <inertial>
      <origin xyz="-0.008004200000000001 0.000351303 0.051944000000000046" rpy="0 0 -1.5707963267948966"/>
      <mass value="1.8989"/>
      <inertia ixx="0.0038024477026934725" ixy="1.2239671000204914e-06" ixz="-5.050107277839758e-06" iyy="0.0029226483914300675" iyz="-0.00035973651191912757" izz="0.0023018125890803946"/>
    </inertial>
    <visual>
      <origin xyz="0 5e-05 0.2533580000000001" rpy="0 0 -1.5707963267948966"/>
      <geometry>
        <mesh filename="package://iRonCub-Mk3/iRonCub/meshes/stl/sim_icub3_torso_1_prt.stl" scale="0.001 0.001 0.001"/>
      </geometry>
      <material name="blue">
        <color rgba="0.1 0.8 0.1 1"/>
      </material>
    </visual>
    <collision>
      <origin xyz="0 5e-05 0.2533580000000001" rpy="0 0 -1.5707963267948966"/>
      <geometry>
        <mesh filename="package://iRonCub-Mk3/iRonCub/meshes/stl/sim_icub3_torso_1_prt.stl" scale="0.001 0.001 0.001"/>
      </geometry>
    </collision>
  </link>
  <joint name="torso_roll" type="revolute">
    <origin xyz="0 -5e-05 0.0605" rpy="0 0 0"/>
    <axis xyz="-1.0 0.0 0.0"/>
    <parent link="root_link"/>
    <child link="torso_1"/>
    <limit effort="50000" lower="-0.4014257279586958" upper="0.4014257279586958" velocity="120.0"/>
    <dynamics damping="2.0" friction="0.0"/>
  </joint>
  <link name="torso_2">
    <inertial>
      <origin xyz="0.00131935 0.00332192 0.026808" rpy="0 0 -1.5707963267948966"/>
      <mass value="0.77098"/>
      <inertia ixx="0.0008105413874308448" ixy="-3.5442504712774724e-06" ixz="-7.21480883330135e-05" iyy="0.0014602573028254073" iyz="-1.0808501368993641e-05" izz="0.0012107068713070723"/>
    </inertial>
    <visual>
      <origin xyz="0 0 0.18085800000000019" rpy="0 0 -1.5707963267948966"/>
      <geometry>
        <mesh filename="package://iRonCub-Mk3/iRonCub/meshes/stl/sim_icub3_torso_2_prt.stl" scale="0.001 0.001 0.001"/>
      </geometry>
      <material name="yellow">
        <color rgba="0.1 0.8 0.1 1"/>
      </material>
    </visual>
    <collision>
      <origin xyz="0 0 0.18085800000000019" rpy="0 0 -1.5707963267948966"/>
      <geometry>
        <mesh filename="package://iRonCub-Mk3/iRonCub/meshes/stl/sim_icub3_torso_2_prt.stl" scale="0.001 0.001 0.001"/>
      </geometry>
    </collision>
  </link>
  <joint name="torso_pitch" type="revolute">
    <origin xyz="0 5e-05 0.07250000000000001" rpy="0 0 0"/>
    <axis xyz="0.0 1.0 0.0"/>
    <parent link="torso_1"/>
    <child link="torso_2"/>
    <limit effort="50000" lower="-0.3141592653589793" upper="0.7853981633974483" velocity="120.0"/>
    <dynamics damping="2.0" friction="0.0"/>
  </joint>
  <link name="chest">
    <inertial>
      <origin xyz="-0.00597433 -7.26041e-05 0.06416630000000001" rpy="0 0 -1.5707963267948966"/>
      <mass value="8.8237"/>
      <inertia ixx="0.039708617760736864" ixy="6.204355274120594e-05" ixz="0.00016506620484397756" iyy="0.03867392720151877" iyz="-0.002048920943396954" izz="0.03467001611831408"/>
    </inertial>
    <visual>
      <origin xyz="0 0 0.11638800000000014" rpy="0 0 -1.5707963267948966"/>
      <geometry>
        <mesh filename="package://iRonCub-Mk3/iRonCub/meshes/stl/sim_icub3_chest_prt.stl" scale="0.001 0.001 0.001"/>
      </geometry>
      <material name="chest_color">
        <color rgba="0.1 0.8 0.1 1"/>
      </material>
    </visual>
    <collision>
      <origin xyz="0 0 0.11638800000000014" rpy="0 0 -1.5707963267948966"/>
      <geometry>
        <mesh filename="package://iRonCub-Mk3/iRonCub/meshes/stl/sim_icub3_chest_prt.stl" scale="0.001 0.001 0.001"/>
      </geometry>
    </collision>
  </link>
  <joint name="torso_yaw" type="revolute">
    <origin xyz="0 0 0.06447000000000001" rpy="0 0 0"/>
    <axis xyz="0.0 0.0 -1.0"/>
    <parent link="torso_2"/>
    <child link="chest"/>
    <limit effort="50000" lower="-0.7504915783575618" upper="0.7504915783575618" velocity="120.0"/>
    <dynamics damping="2.0" friction="0.0"/>
  </joint>
  <link name="chest_depth_frame"/>
  <joint name="chest_depth_frame_fixed_joint" type="fixed">
    <origin xyz="0.0894115 0.0175 0.09929950000000001" rpy="-1.5707963267948968 0 -1.5707963267948968"/>
    <parent link="chest"/>
    <child link="chest_depth_frame"/>
    <dynamics damping="0.1"/>
  </joint>
  <link name="chest_rgb_frame"/>
  <joint name="chest_rgb_frame_fixed_joint" type="fixed">
    <origin xyz="0.0894115 -0.0115 0.09929950000000001" rpy="-1.5707963267948968 0 -1.5707963267948968"/>
    <parent link="chest"/>
    <child link="chest_rgb_frame"/>
    <dynamics damping="0.1"/>
  </joint>
  <link name="chest_jetpack">
    <inertial>
      <origin xyz="-0.08999715696999999 -0.0664036 -0.04002099999999999" rpy="1.5707963267948966 0 3.141592653589793"/>
      <mass value="1.80559"/>
      <inertia ixx="0.0108291" ixy="0.0" ixz="0.0" iyy="0.0139177" iyz="0.000593622" izz="0.0136849"/>
    </inertial>
    <visual>
      <origin xyz="-0.09000000000000005 -0.10369599999999986 0.08499999999999977" rpy="1.5707963267948966 0 3.141592653589793"/>
      <geometry>
        <mesh filename="package://iRonCub-Mk3/iRonCub/meshes/stl/sim_sea_3_jetpack_prt.stl" scale="0.001 0.001 0.001"/>
      </geometry>
      <material name="pink">
        <color rgba="0.1 0.8 0.1 1"/>
      </material>
    </visual>
    <collision>
      <origin xyz="-0.09000000000000005 -0.10369599999999986 0.08499999999999977" rpy="1.5707963267948966 0 3.141592653589793"/>
      <geometry>
        <mesh filename="package://iRonCub-Mk3/iRonCub/meshes/stl/sim_sea_3_jetpack_prt.stl" scale="0.001 0.001 0.001"/>
      </geometry>
    </collision>
  </link>
  <joint name="jetpack" type="fixed">
    <origin xyz="-0.085 0.09 0.220084" rpy="1.5707963267948968 0 1.5707963267948968"/>
    <parent link="chest"/>
    <child link="chest_jetpack"/>
    <dynamics damping="0.1"/>
  </joint>
  <link name="L_BRACKET"/>
  <joint name="L_BRACKET_fixed_joint" type="fixed">
    <origin xyz="0.0025000000000000022 -0.108446 -0.045" rpy="1.5707963267948966 0 0"/>
    <parent link="chest_jetpack"/>
    <child link="L_BRACKET"/>
    <dynamics damping="0.1"/>
  </joint>
  <link name="R_BRACKET"/>
  <joint name="R_BRACKET_fixed_joint" type="fixed">
    <origin xyz="-0.1825 -0.108446 -0.045" rpy="-1.570796326794897 0 3.141592653589793"/>
    <parent link="chest_jetpack"/>
    <child link="R_BRACKET"/>
    <dynamics damping="0.1"/>
  </joint>
  <link name="chest_r_bracket">
    <inertial>
      <origin xyz="0.040186 0 -0.013638599999999994" rpy="3.141592653589793 0 3.141592653589793"/>
      <mass value="0.24286"/>
      <inertia ixx="6.4684e-05" ixy="0.0" ixz="3.71713e-05" iyy="0.00025865" iyz="0.0" izz="0.0003145"/>
    </inertial>
    <visual>
      <origin xyz="0 0 0" rpy="3.141592653589793 0 0"/>
      <geometry>
        <mesh filename="[local-path]\Documents\GitHub\element_co-generative-cad\Mode_frontierAnalayses\jetpack_forearm_simulink_controller\jetpack_forearm_control_simulink_controller_00066\proc\00000-00999\00446\Matlab25_00000\cogen_001_p_001.prt_ascii.stl" scale="0.001 0.001 0.001"/>
      </geometry>
      <material name="cyan">
        <color rgba="0 1 1 1"/>
      </material>
    </visual>
    <collision>
      <origin xyz="-0.0925 0.12999999999999995 -0.004749999999999998" rpy="3.141592653589793 0 3.141592653589793"/>
      <geometry>
        <mesh filename="package://iRonCub-Mk3/iRonCub/meshes/stl/sim_sea_3_r_bracket_prt.stl" scale="0.001 0.001 0.001"/>
      </geometry>
    </collision>
  </link>
  <joint name="r_bracket" type="fixed">
    <origin xyz="-0.1825 -0.108446 -0.045" rpy="-1.570796326794897 0 3.141592653589793"/>
    <parent link="chest_jetpack"/>
    <child link="chest_r_bracket"/>
    <dynamics damping="0.1"/>
  </joint>
  <link name="chest_r_turbine_support">
    <inertial>
      <origin xyz="0.033974948560747814 1.000000000001e-06 0.025325496432461944" rpy="3.141592653589793 -0.26179931982715643 0"/>
      <mass value="0.513465"/>
      <inertia ixx="0.000737005" ixy="-1.84704e-08" ixz="-0.000203475" iyy="0.00132011" iyz="0.0" izz="0.00185737"/>
    </inertial>
    <visual>
      <origin xyz="-0.15624417980240066 -0.12999999999999978 -0.033999472494660433" rpy="3.141592653589793 -0.26179931982715643 0"/>
      <geometry>
        <mesh filename="package://iRonCub-Mk3/iRonCub/meshes/stl/sim_sea_3_r_turbine_support_prt.stl" scale="0.001 0.001 0.001"/>
      </geometry>
      <material name="green">
        <color rgba="0 1 0 1"/>
      </material>
    </visual>
    <collision>
      <origin xyz="-0.15624417980240066 -0.12999999999999978 -0.033999472494660433" rpy="3.141592653589793 -0.26179931982715643 0"/>
      <geometry>
        <mesh filename="package://iRonCub-Mk3/iRonCub/meshes/stl/sim_sea_3_r_turbine_support_prt.stl" scale="0.001 0.001 0.001"/>
      </geometry>
    </collision>
  </link>
  <joint name="r_turbine_support" type="fixed">
    <origin xyz="0.071195           0 -0.00083849" rpy="0    0.017453           0"/>
    <parent link="chest_r_bracket"/>
    <child link="chest_r_turbine_support"/>
    <dynamics damping="0.1"/>
  </joint>
  <link name="chest_r_jet_turbine">
    <inertial>
      <origin xyz="5.000000000002197e-05 -6.602469999855698e-05 -0.15870252299023924" rpy="3.141592653589793 -0.26179931982715643 1.5707963267948968"/>
      <mass value="2.115"/>
      <inertia ixx="0.00787141" ixy="7.21352e-06" ixz="0.00136635" iyy="0.0082371" iyz="-1.12055e-05" izz="0.0031427"/>
    </inertial>
    <visual>
      <origin xyz="0.12971099999999988 -0.25124341315963833 -0.22335106276867228" rpy="3.141592653589793 -0.26179931982715643 1.5707963267948968"/>
      <geometry>
        <mesh filename="package://iRonCub-Mk3/iRonCub/meshes/stl/sim_sea_3_r_jet_turbine_prt.stl" scale="0.001 0.001 0.001"/>
      </geometry>
      <material name="white">
        <color rgba="1 1 1 1"/>
      </material>
    </visual>
    <collision>
      <origin xyz="0.12971099999999988 -0.25124341315963833 -0.22335106276867228" rpy="3.141592653589793 -0.26179931982715643 1.5707963267948968"/>
      <geometry>
        <mesh filename="package://iRonCub-Mk3/iRonCub/meshes/stl/sim_sea_3_r_jet_turbine_prt.stl" scale="0.001 0.001 0.001"/>
      </geometry>
    </collision>
  </link>
  <joint name="r_jet_turbine" type="fixed">
    <origin xyz="0.09499923335723759 -0.0002889999999999837 0.1893515902740118" rpy="0 0 -1.5707963267948966"/>
    <parent link="chest_r_turbine_support"/>
    <child link="chest_r_jet_turbine"/>
    <dynamics damping="0.1"/>
  </joint>
  <link name="chest_l_bracket">
    <inertial>
      <origin xyz="0.040185999999999986 0 -0.013638599999999994" rpy="3.141592653589793 0 3.141592653589793"/>
      <mass value="0.24286"/>
      <inertia ixx="6.4684e-05" ixy="0.0" ixz="3.71713e-05" iyy="0.00025865" iyz="0.0" izz="0.0003145"/>
    </inertial>
    <visual>
      <origin xyz="0 0 0" rpy="3.141592653589793 0 0"/>
      <geometry>
        <mesh filename="[local-path]\Documents\GitHub\element_co-generative-cad\Mode_frontierAnalayses\jetpack_forearm_simulink_controller\jetpack_forearm_control_simulink_controller_00066\proc\00000-00999\00446\Matlab25_00000\cogen_001_p_001.prt_ascii.stl" scale="0.001 0.001 0.001"/>
      </geometry>
      <material name="dblue">
        <color rgba="0 1 1 1"/>
      </material>
    </visual>
    <collision>
      <origin xyz="-0.09250000000000001 0.12999999999999978 -0.00475000000000014" rpy="3.141592653589793 0 3.141592653589793"/>
      <geometry>
        <mesh filename="package://iRonCub-Mk3/iRonCub/meshes/stl/sim_sea_3_l_bracket_prt.stl" scale="0.001 0.001 0.001"/>
      </geometry>
    </collision>
  </link>
  <joint name="l_bracket" type="fixed">
    <origin xyz="0.0025000000000000022 -0.108446 -0.045" rpy="1.5707963267948966 0 0"/>
    <parent link="chest_jetpack"/>
    <child link="chest_l_bracket"/>
    <dynamics damping="0.1"/>
  </joint>
  <link name="chest_l_turbine_support">
    <inertial>
      <origin xyz="0.03397903484844561 1.000000000001e-06 0.025325701012153992" rpy="3.141592653589793 0.26179931982715643 3.141592653589793"/>
      <mass value="0.513465"/>
      <inertia ixx="0.000736992" ixy="-1.84723e-08" ixz="0.000203433" iyy="0.00131997" iyz="0.0" izz="0.00185725"/>
    </inertial>
    <visual>
      <origin xyz="-0.15624417980240077 0.12999999999999978 -0.03399947249466047" rpy="3.141592653589793 0.26179931982715643 3.141592653589793"/>
      <geometry>
        <mesh filename="package://iRonCub-Mk3/iRonCub/meshes/stl/sim_sea_3_l_turbine_support_prt.stl" scale="0.001 0.001 0.001"/>
      </geometry>
      <material name="dgreen">
        <color rgba="0 1 0 1"/>
      </material>
    </visual>
    <collision>
      <origin xyz="-0.15624417980240077 0.12999999999999978 -0.03399947249466047" rpy="3.141592653589793 0.26179931982715643 3.141592653589793"/>
      <geometry>
        <mesh filename="package://iRonCub-Mk3/iRonCub/meshes/stl/sim_sea_3_l_turbine_support_prt.stl" scale="0.001 0.001 0.001"/>
      </geometry>
    </collision>
  </link>
  <joint name="l_turbine_support" type="fixed">
    <origin xyz="0.071195           0 -0.00083849" rpy="0    0.017453           0"/>
    <parent link="chest_l_bracket"/>
    <child link="chest_l_turbine_support"/>
    <dynamics damping="0.1"/>
  </joint>
  <link name="chest_l_jet_turbine">
    <inertial>
      <origin xyz="4.9000000000021445e-05 -5.932499839716998e-05 -0.1587105537506091" rpy="3.141592653589793 0.26179931982715643 1.5707963267948968"/>
      <mass value="2.11661"/>
      <inertia ixx="0.00787268" ixy="6.50611e-07" ixz="-0.00136457" iyy="0.00823746" iyz="-1.33065e-05" izz="0.0031418"/>
    </inertial>
    <visual>
      <origin xyz="0.12971099999999977 0.2507434833286949 -0.2233506576354603" rpy="3.141592653589793 0.26179931982715643 1.5707963267948968"/>
      <geometry>
        <mesh filename="package://iRonCub-Mk3/iRonCub/meshes/stl/sim_sea_3_l_jet_turbine_prt.stl" scale="0.001 0.001 0.001"/>
      </geometry>
      <material name="gray">
        <color rgba="1 1 1 1"/>
      </material>
    </visual>
    <collision>
      <origin xyz="0.12971099999999977 0.2507434833286949 -0.2233506576354603" rpy="3.141592653589793 0.26179931982715643 1.5707963267948968"/>
      <geometry>
        <mesh filename="package://iRonCub-Mk3/iRonCub/meshes/stl/sim_sea_3_l_jet_turbine_prt.stl" scale="0.001 0.001 0.001"/>
      </geometry>
    </collision>
  </link>
  <joint name="l_jet_turbine" type="fixed">
    <origin xyz="0.09449930352629421 0.0002889999999999837 0.1893511851407998" rpy="0 0 1.5707963267948966"/>
    <parent link="chest_l_turbine_support"/>
    <child link="chest_l_jet_turbine"/>
    <dynamics damping="0.1"/>
  </joint>
  <link name="neck_1">
    <inertial>
      <origin xyz="-0.0021259300000000003 0.00033753499999999997 0.031454700000000016" rpy="-1.5707963267948968 0 -1.5707963267948968"/>
      <mass value="0.36804"/>
      <inertia ixx="0.000179701897883096" ixy="-8.833876708276077e-06" ixz="-1.4878426738622656e-05" iyy="0.0002675144279997793" iyz="5.57627455590208e-06" izz="0.00028375118819347193"/>
    </inertial>
    <visual>
      <origin xyz="0.00865 0 0.049000000000000016" rpy="-1.5707963267948968 0 -1.5707963267948968"/>
      <geometry>
        <mesh filename="package://iRonCub-Mk3/iRonCub/meshes/stl/sim_head_neck_1_prt.stl" scale="0.001 0.001 0.001"/>
      </geometry>
      <material name="green">
        <color rgba="1 1 1 1"/>
      </material>
    </visual>
    <collision>
      <origin xyz="0.00865 0 0.049000000000000016" rpy="-1.5707963267948968 0 -1.5707963267948968"/>
      <geometry>
        <mesh filename="package://iRonCub-Mk3/iRonCub/meshes/stl/sim_head_neck_1_prt.stl" scale="0.001 0.001 0.001"/>
      </geometry>
    </collision>
  </link>
  <joint name="neck_fixed_joint" type="fixed">
    <origin xyz="-0.00378849 0 0.1652995" rpy="0 0 0"/>
    <parent link="chest"/>
    <child link="neck_1"/>
    <dynamics damping="0.1"/>
  </joint>
  <link name="neck_2">
    <inertial>
      <origin xyz="-0.0063756 3.63093e-05 0.006597499999999992" rpy="-1.5707963267948968 0 -1.5707963267948968"/>
      <mass value="0.1214"/>
      <inertia ixx="3.922803192379071e-05" ixy="5.7011653935913464e-08" ixz="9.665431536690854e-08" iyy="3.7385115930831784e-05" iyz="-9.08258119140734e-06" izz="4.585137085918645e-05"/>
    </inertial>
    <visual>
      <origin xyz="0 0 0" rpy="-1.5707963267948968 0 -1.5707963267948968"/>
      <geometry>
        <mesh filename="package://iRonCub-Mk3/iRonCub/meshes/stl/sim_head_neck_2_prt.stl" scale="0.001 0.001 0.001"/>
      </geometry>
      <material name="black">
        <color rgba="1 1 1 1"/>
      </material>
    </visual>
    <collision>
      <origin xyz="0 0 0" rpy="-1.5707963267948968 0 -1.5707963267948968"/>
      <geometry>
        <mesh filename="package://iRonCub-Mk3/iRonCub/meshes/stl/sim_head_neck_2_prt.stl" scale="0.001 0.001 0.001"/>
      </geometry>
    </collision>
  </link>
  <joint name="neck_pitch" type="revolute">
    <origin xyz="0.00865 0 0.049000000000000016" rpy="0 0 0"/>
    <axis xyz="0.0 -1.0 0.0"/>
    <parent link="neck_1"/>
    <child link="neck_2"/>
    <limit effort="50000" lower="-0.5235987755982988" upper="0.3839724354387525" velocity="120.0"/>
    <dynamics damping="2.0" friction="0.0"/>
  </joint>
  <link name="neck_3">
    <inertial>
      <origin xyz="0.0012653999999999999 -8.218820000000001e-05 0.036108999999999974" rpy="-1.5707963267948968 0 -1.5707963267948968"/>
      <mass value="0.18386"/>
      <inertia ixx="0.00011968746119821388" ixy="-5.240077207007726e-07" ixz="-3.6002165484161086e-07" iyy="3.99187384725429e-05" iyz="-9.97584076409671e-06" izz="0.00010705060973108298"/>
    </inertial>
    <visual>
      <origin xyz="0 0 -0.009500499999999995" rpy="-1.5707963267948968 0 -1.5707963267948968"/>
      <geometry>
        <mesh filename="package://iRonCub-Mk3/iRonCub/meshes/stl/sim_head_neck_3_prt.stl" scale="0.001 0.001 0.001"/>
      </geometry>
      <material name="red">
        <color rgba="1 1 1 1"/>
      </material>
    </visual>
    <collision>
      <origin xyz="0 0 -0.009500499999999995" rpy="-1.5707963267948968 0 -1.5707963267948968"/>
      <geometry>
        <mesh filename="package://iRonCub-Mk3/iRonCub/meshes/stl/sim_head_neck_3_prt.stl" scale="0.001 0.001 0.001"/>
      </geometry>
    </collision>
  </link>
  <joint name="neck_roll" type="revolute">
    <origin xyz="0 0 0.009500499999999995" rpy="0 0 0"/>
    <axis xyz="1.0 0.0 0.0"/>
    <parent link="neck_2"/>
    <child link="neck_3"/>
    <limit effort="50000" lower="-0.3490658503988659" upper="0.3490658503988659" velocity="120.0"/>
    <dynamics damping="2.0" friction="0.0"/>
  </joint>
  <link name="head">
    <inertial>
      <origin xyz="-0.02065171 0.000526031 0.027896999999999977" rpy="-1.5707963267948968 0 -1.5707963267948968"/>
      <mass value="1.8728"/>
      <inertia ixx="0.007642647745719656" ixy="4.8998499721183834e-05" ixz="4.926393457113943e-05" iyy="0.007404636328713935" iyz="-0.00019328685350792046" izz="0.005594148247588756"/>
    </inertial>
    <visual>
      <origin xyz="0 0 -0.07865050000000001" rpy="-1.5707963267948968 0 -1.5707963267948968"/>
      <geometry>
        <mesh filename="package://iRonCub-Mk3/iRonCub/meshes/stl/sim_head_head_prt.stl" scale="0.001 0.001 0.001"/>
      </geometry>
      <material name="blue">
        <color rgba="1 1 1 1"/>
      </material>
    </visual>
    <collision>
      <origin xyz="0 0 -0.07865050000000001" rpy="-1.5707963267948968 0 -1.5707963267948968"/>
      <geometry>
        <mesh filename="package://iRonCub-Mk3/iRonCub/meshes/stl/sim_head_head_prt.stl" scale="0.001 0.001 0.001"/>
      </geometry>
    </collision>
  </link>
  <joint name="neck_yaw" type="revolute">
    <origin xyz="0 0 0.06915000000000002" rpy="0 0 0"/>
    <axis xyz="0.0 0.0 1.0"/>
    <parent link="neck_3"/>
    <child link="head"/>
    <limit effort="50000" lower="-0.7853981633974483" upper="0.7853981633974483" velocity="120.0"/>
    <dynamics damping="2.0" friction="0.0"/>
  </joint>
  <link name="l_shoulder_1">
    <inertial>
      <origin xyz="0.00016753510172435454 0.08722598325113093 0.0004507876462612366" rpy="-0.06688748006582523 -0.2444524795872544 -1.3007776603865422"/>
      <mass value="0.78644"/>
      <inertia ixx="0.00039843690200765293" ixy="0.00017359471090191915" ixz="0.00016289691907417792" iyy="0.0010102030321362176" iyz="-4.081880122662575e-05" izz="0.000992284738493621"/>
    </inertial>
    <visual>
      <origin xyz="0.030411223823216114 -0.029140477503746667 0.01909576653967796" rpy="-0.06688748006582523 -0.2444524795872544 -1.3007776603865422"/>
      <geometry>
        <mesh filename="package://iRonCub-Mk3/iRonCub/meshes/stl/sim_icub3_l_shoulder_1_prt.stl" scale="0.001 0.001 0.001"/>
      </geometry>
      <material name="yellow">
        <color rgba="1 1 1 1"/>
      </material>
    </visual>
    <collision>
      <origin xyz="0.030411223823216114 -0.029140477503746667 0.01909576653967796" rpy="-0.06688748006582523 -0.2444524795872544 -1.3007776603865422"/>
      <geometry>
        <mesh filename="package://iRonCub-Mk3/iRonCub/meshes/stl/sim_icub3_l_shoulder_1_prt.stl" scale="0.001 0.001 0.001"/>
      </geometry>
    </collision>
  </link>
  <joint name="l_shoulder_pitch" type="revolute">
    <origin xyz="-0.020835100000000002 0.0397423 0.1052029" rpy="0.25326162380993705 -1.1977334179319483e-07 -0.26179930184968747"/>
    <axis xyz="3.323079797673039e-07 0.9999999783534342 1.4452224303407313e-07"/>
    <parent link="chest"/>
    <child link="l_shoulder_1"/>
    <limit effort="50000" lower="-3.0543261909900767" upper="0.3490658503988659" velocity="120.0"/>
    <dynamics damping="2.0" friction="0.0"/>
  </joint>
  <link name="l_shoulder_2">
    <inertial>
      <origin xyz="0.0076686687055762676 0.00018849980855933923 -0.020403454228093053" rpy="-0.12008543635729367 -0.2297887323171894 -1.2882780461440753"/>
      <mass value="0.42492"/>
      <inertia ixx="0.00038388233784675605" ixy="-4.916851307375464e-05" ixz="-6.324300296292925e-05" iyy="0.00031068388949320714" iyz="-7.587195452290467e-05" izz="0.00026013597951892223"/>
    </inertial>
    <visual>
      <origin xyz="0.026393096265395596 -0.14064030580326706 0.017434480978924874" rpy="-0.12008543635729367 -0.2297887323171894 -1.2882780461440753"/>
      <geometry>
        <mesh filename="package://iRonCub-Mk3/iRonCub/meshes/stl/sim_icub3_l_shoulder_2_prt.stl" scale="0.001 0.001 0.001"/>
      </geometry>
      <material name="pink">
        <color rgba="1 1 1 1"/>
      </material>
    </visual>
    <collision>
      <origin xyz="0.026393096265395596 -0.14064030580326706 0.017434480978924874" rpy="-0.12008543635729367 -0.2297887323171894 -1.2882780461440753"/>
      <geometry>
        <mesh filename="package://iRonCub-Mk3/iRonCub/meshes/stl/sim_icub3_l_shoulder_2_prt.stl" scale="0.001 0.001 0.001"/>
      </geometry>
    </collision>
  </link>
  <joint name="l_shoulder_roll" type="revolute">
    <origin xyz="0.004992849331690821 0.11149983845609901 0.00026865022773668937" rpy="-0.17453296140985003 -0.05374759931933849 0"/>
    <axis xyz="0.9999998262417685 2.034825262722459e-07 -4.0230228454118944e-08"/>
    <parent link="l_shoulder_1"/>
    <child link="l_shoulder_2"/>
    <limit effort="50000" lower="0.20943951023931956" upper="2.8448866807507573" velocity="120.0"/>
    <dynamics damping="2.0" friction="0.0"/>
  </joint>
  <link name="l_shoulder_3">
    <inertial>
      <origin xyz="-9.561931744894031e-05 3.089115052354319e-05 -0.007966608685190314" rpy="-0.12008543635729367 -0.2297887323171894 -1.2882780461440753"/>
      <mass value="0.2625"/>
      <inertia ixx="7.626797646850803e-05" ixy="-1.6986505676585652e-06" ixz="1.0777869051741286e-05" iyy="7.457103744115285e-05" iyz="-5.511652932595611e-06" izz="0.00012000121562184585"/>
    </inertial>
    <visual>
      <origin xyz="0.030743229422373917 -0.14064066906059042 0.0717345197029866" rpy="-0.12008543635729367 -0.2297887323171894 -1.2882780461440753"/>
      <geometry>
        <mesh filename="package://iRonCub-Mk3/iRonCub/meshes/stl/sim_icub3_l_shoulder_3_prt.stl" scale="0.001 0.001 0.001"/>
      </geometry>
      <material name="cyan">
        <color rgba="0.1 0.8 0.1 1"/>
      </material>
    </visual>
    <collision>
      <origin xyz="0.030743229422373917 -0.14064066906059042 0.0717345197029866" rpy="-0.12008543635729367 -0.2297887323171894 -1.2882780461440753"/>
      <geometry>
        <mesh filename="package://iRonCub-Mk3/iRonCub/meshes/stl/sim_icub3_l_shoulder_3_prt.stl" scale="0.001 0.001 0.001"/>
      </geometry>
    </collision>
  </link>
  <joint name="l_arm_ft_sensor" type="fixed">
    <origin xyz="-0.004350133156978318 3.632573233602887e-07 -0.05430003872406172" rpy="0 0 0"/>
    <parent link="l_shoulder_2"/>
    <child link="l_shoulder_3"/>
    <dynamics damping="0.1"/>
  </joint>
  <link name="l_upper_arm">
    <inertial>
      <origin xyz="0.0010476375729993916 0.002559622582259863 -0.05065314985074498" rpy="-0.06212860830092193 0.0714268908124578 0.27099931149673545"/>
      <mass value="1.67729"/>
      <inertia ixx="0.002960829234557446" ixy="-1.0441222117313817e-05" ixz="0.00022298859388284023" iyy="0.0030756376591531418" iyz="0.00020156448677983343" izz="0.001327263106289413"/>
    </inertial>
    <visual>
      <origin xyz="0.030743147864881363 -0.14064024560810592 0.09423446107611103" rpy="-0.12008543635729367 -0.2297887323171894 -1.2882780461440753"/>
      <geometry>
        <mesh filename="package://iRonCub-Mk3/iRonCub/meshes/stl/sim_icub3_l_upperarm_prt.stl" scale="0.001 0.001 0.001"/>
      </geometry>
      <material name="green">
        <color rgba="0.1 0.8 0.1 1"/>
      </material>
    </visual>
    <collision>
      <origin xyz="0.030743147864881363 -0.14064024560810592 0.09423446107611103" rpy="-0.12008543635729367 -0.2297887323171894 -1.2882780461440753"/>
      <geometry>
        <mesh filename="package://iRonCub-Mk3/iRonCub/meshes/stl/sim_icub3_l_upperarm_prt.stl" scale="0.001 0.001 0.001"/>
      </geometry>
    </collision>
  </link>
  <joint name="l_shoulder_yaw" type="revolute">
    <origin xyz="0 -4.2345248449371375e-07 -0.02249994137312443" rpy="0 0 0"/>
    <axis xyz="2.2276474047344674e-08 -4.39378624733644e-08 -1.0000002566182309"/>
    <parent link="l_shoulder_3"/>
    <child link="l_upper_arm"/>
    <limit effort="50000" lower="-0.8726646259971648" upper="1.3962634015954636" velocity="120.0"/>
    <dynamics damping="2.0" friction="0.0"/>
  </joint>
  <link name="l_elbow_1">
    <inertial>
      <origin xyz="-0.00423027106126244 0.0004313452938078943 -0.0009432406828351891" rpy="-0.12008543635729367 -0.2297887323171894 -1.2882780461440753"/>
      <mass value="0.107667"/>
      <inertia ixx="1.39504e-05" ixy="1.76574e-06" ixz="3.57718e-06" iyy="2.16784e-05" iyz="-8.71415e-07" izz="2.71069e-05"/>
    </inertial>
    <visual>
      <origin xyz="0.02074321762996196 -0.13914059818467703 0.21793479861369477" rpy="-0.12008543635729367 -0.2297887323171894 -1.2882780461440753"/>
      <geometry>
        <mesh filename="package://iRonCub-Mk3/iRonCub/meshes/stl/sim_icub3_l_elbow_prt.stl" scale="0.001 0.001 0.001"/>
      </geometry>
      <material name="white">
        <color rgba="1 1 1 1"/>
      </material>
    </visual>
    <collision>
      <origin xyz="0.02074321762996196 -0.13914059818467703 0.21793479861369477" rpy="-0.12008543635729367 -0.2297887323171894 -1.2882780461440753"/>
      <geometry>
        <mesh filename="package://iRonCub-Mk3/iRonCub/meshes/stl/sim_icub3_l_elbow_prt.stl" scale="0.001 0.001 0.001"/>
      </geometry>
    </collision>
  </link>
  <joint name="l_elbow" type="revolute">
    <origin xyz="0.0099999302349194 -0.001499647423428896 -0.12370033753758373" rpy="0 0 0"/>
    <axis xyz="-8.81182417675902e-08 -1.0000002733514628 4.404736120289243e-08"/>
    <parent link="l_upper_arm"/>
    <child link="l_elbow_1"/>
    <limit effort="50000" lower="-0.05235987755982989" upper="1.3089969389957472" velocity="120.0"/>
    <dynamics damping="2.0" friction="0.0"/>
  </joint>
  <link name="L_FOREARM"/>
  <joint name="L_FOREARM_fixed_joint" type="fixed">
    <origin xyz="-0.014999997481142335 0.001999966984672058 0.006000190633300373" rpy="1.5707963634150914 -1.5707959411047887 0"/>
    <parent link="l_elbow_1"/>
    <child link="L_FOREARM"/>
    <dynamics damping="0.1"/>
  </joint>
  <link name="l_forearm">
    <inertial>
      <origin xyz="-0.13144957359056722 6.579725385970348e-05 -0.023664172318918125" rpy="-2.3561949108383837 -1.2085781829840494 -0.872663970096126"/>
      <mass value="0.82771"/>
      <inertia ixx="0.0019343" ixy="0.000250775" ixz="-0.000415171" iyy="0.0032194" iyz="0.000153302" izz="0.004138"/>
    </inertial>
    <visual>
      <origin xyz="0 0 0" rpy="-0.1745 0 0 "/>
      <geometry>
        <mesh filename="[local-path]\Documents\GitHub\element_co-generative-cad\Mode_frontierAnalayses\jetpack_forearm_simulink_controller\jetpack_forearm_control_simulink_controller_00066\proc\00000-00999\00446\Matlab26_00000\cogen_001_p_002.prt_ascii.stl" scale="0.001 0.001 0.001"/>
      </geometry>
      <material name="dblue">
        <color rgba="0 0 0.8 1"/>
      </material>
    </visual>
    <collision>
      <origin xyz="0.21193456418652468 -0.0357431759934032 0.14114064083593308" rpy="-2.3561949108383837 -1.2085781829840494 -0.872663970096126"/>
      <geometry>
        <mesh filename="package://iRonCub-Mk3/iRonCub/meshes/stl/sim_icub3_l_elbow_prosup_prt.stl" scale="0.001 0.001 0.001"/>
      </geometry>
    </collision>
  </link>
  <joint name="l_prosup_joint" type="fixed">
    <origin xyz="-0.014999997481142335 0.001999966984672058 0.006000190633300373" rpy="1.5707963634150914 -1.5707959411047887 0"/>
    <parent link="l_elbow_1"/>
    <child link="l_forearm"/>
    <dynamics damping="0.1"/>
  </joint>
  <link name="l_arm_jet_turbine">
    <inertial>
      <origin xyz="2.4681861376940617e-07 0 -0.15814158399339034" rpy="3.0215072327565813 0.22978870437666338 -0.2825182075180713"/>
      <mass value="2.155"/>
      <inertia ixx="-0.00934762" ixy="-0.000261966" ixz="0.00217093" iyy="-0.00972494" iyz="-0.00111183" izz="-0.000645087"/>
    </inertial>
    <visual>
      <origin xyz="0.23085097168388896 -0.03574304568941889 -0.5299356907276523" rpy="3.0215072327565813 0.22978870437666338 -0.2825182075180713"/>
      <geometry>
        <mesh filename="package://iRonCub-Mk3/iRonCub/meshes/stl/sim_sea_l_arm_p250_prt.stl" scale="0.001 0.001 0.001"/>
      </geometry>
      <material name="dgreen">
        <color rgba="1 1 1 1"/>
      </material>
    </visual>
    <collision>
      <origin xyz="0.23085097168388896 -0.03574304568941889 -0.5299356907276523" rpy="3.0215072327565813 0.22978870437666338 -0.2825182075180713"/>
      <geometry>
        <mesh filename="package://iRonCub-Mk3/iRonCub/meshes/stl/sim_sea_l_arm_p250_prt.stl" scale="0.001 0.001 0.001"/>
      </geometry>
    </collision>
  </link>
  <joint name="l_elbow_turbine" type="fixed">
    <origin xyz="-0.34           0        -0.1" rpy="1.5346e-07     -1.5708           0"/>
    <parent link="l_forearm"/>
    <child link="l_arm_jet_turbine"/>
    <dynamics damping="0.1"/>
  </joint>
  <link name="r_shoulder_1">
    <inertial>
      <origin xyz="0.00016744811157206468 -0.08721740246539643 0.0004507343002208668" rpy="-0.06688725064450136 0.24445256247619251 -1.840815419889917"/>
      <mass value="0.78697"/>
      <inertia ixx="0.0003985239519684459" ixy="-0.0001736132173031554" ixz="-0.0001629290145974639" iyy="0.0010103722401209082" iyz="-4.081377037378354e-05" izz="0.0009923960134670207"/>
    </inertial>
    <visual>
      <origin xyz="0.030411233356184383 0.029140462447480246 0.01909577433393813" rpy="-0.06688725064450136 0.24445256247619251 -1.840815419889917"/>
      <geometry>
        <mesh filename="package://iRonCub-Mk3/iRonCub/meshes/stl/sim_icub3_r_shoulder_1_prt.stl" scale="0.001 0.001 0.001"/>
      </geometry>
      <material name="gray">
        <color rgba="1 1 1 1"/>
      </material>
    </visual>
    <collision>
      <origin xyz="0.030411233356184383 0.029140462447480246 0.01909577433393813" rpy="-0.06688725064450136 0.24445256247619251 -1.840815419889917"/>
      <geometry>
        <mesh filename="package://iRonCub-Mk3/iRonCub/meshes/stl/sim_icub3_r_shoulder_1_prt.stl" scale="0.001 0.001 0.001"/>
      </geometry>
    </collision>
  </link>
  <joint name="r_shoulder_pitch" type="revolute">
    <origin xyz="-0.020835100000000002 -0.0397423 0.1052029" rpy="-0.25326164431680925 2.3014774394592079e-07 0.26179970938509745"/>
    <axis xyz="1.499044390054707e-07 0.9999999783534812 -1.2401537036188515e-07"/>
    <parent link="chest"/>
    <child link="r_shoulder_1"/>
    <limit effort="50000" lower="-3.0543261909900767" upper="0.3490658503988659" velocity="120.0"/>
    <dynamics damping="2.0" friction="0.0"/>
  </joint>
  <link name="r_shoulder_2">
    <inertial>
      <origin xyz="0.005108924921141532 -0.00021262473188488062 -0.020403359362654718" rpy="-0.12008540036084188 0.2297886675301102 -1.8533144378692001"/>
      <mass value="0.42492"/>
      <inertia ixx="0.0003829366314543841" ixy="4.8603409990214605e-05" ixz="6.290223922809094e-05" iyy="0.00031037929080854744" iyz="-7.540635367635347e-05" izz="0.0002587851085269554"/>
    </inertial>
    <visual>
      <origin xyz="0.023893259221697872 0.14064089823597106 0.01743452847998419" rpy="-0.12008540036084188 0.2297886675301102 -1.8533144378692001"/>
      <geometry>
        <mesh filename="package://iRonCub-Mk3/iRonCub/meshes/stl/sim_icub3_r_shoulder_2_prt.stl" scale="0.001 0.001 0.001"/>
      </geometry>
      <material name="green">
        <color rgba="1 1 1 1"/>
      </material>
    </visual>
    <collision>
      <origin xyz="0.023893259221697872 0.14064089823597106 0.01743452847998419" rpy="-0.12008540036084188 0.2297886675301102 -1.8533144378692001"/>
      <geometry>
        <mesh filename="package://iRonCub-Mk3/iRonCub/meshes/stl/sim_icub3_r_shoulder_2_prt.stl" scale="0.001 0.001 0.001"/>
      </geometry>
    </collision>
  </link>
  <joint name="r_shoulder_roll" type="revolute">
    <origin xyz="0.007489008185044645 -0.11150041046657977 0.00040278589669752105" rpy="0.17453306234069352 -0.05374779257913059 -6.132332688882274e-07"/>
    <axis xyz="-0.9999998262417886 4.2105014356162707e-08 2.4630481189336084e-08"/>
    <parent link="r_shoulder_1"/>
    <child link="r_shoulder_2"/>
    <limit effort="50000" lower="0.20943951023931956" upper="2.8448866807507573" velocity="120.0"/>
    <dynamics damping="2.0" friction="0.0"/>
  </joint>
  <link name="r_shoulder_3">
    <inertial>
      <origin xyz="-8.296442829115735e-05 -3.0309267538636275e-05 -0.007966520489017755" rpy="-0.12008540036084188 0.2297886675301102 -1.8533144378692001"/>
      <mass value="0.2625"/>
      <inertia ixx="7.628615554065704e-05" ixy="1.6702215931276847e-06" ixz="-1.0784251066431893e-05" iyy="7.45516013055042e-05" iyz="-5.495630207834499e-06" izz="0.00012000314956569149"/>
    </inertial>
    <visual>
      <origin xyz="0.03074320560708775 0.1406406791860105 0.07173451005787518" rpy="-0.12008540036084188 0.2297886675301102 -1.8533144378692001"/>
      <geometry>
        <mesh filename="package://iRonCub-Mk3/iRonCub/meshes/stl/sim_icub3_r_shoulder_3_prt.stl" scale="0.001 0.001 0.001"/>
      </geometry>
      <material name="black">
        <color rgba="0.1 0.8 0.1 1"/>
      </material>
    </visual>
    <collision>
      <origin xyz="0.03074320560708775 0.1406406791860105 0.07173451005787518" rpy="-0.12008540036084188 0.2297886675301102 -1.8533144378692001"/>
      <geometry>
        <mesh filename="package://iRonCub-Mk3/iRonCub/meshes/stl/sim_icub3_r_shoulder_3_prt.stl" scale="0.001 0.001 0.001"/>
      </geometry>
    </collision>
  </link>
  <joint name="r_arm_ft_sensor" type="fixed">
    <origin xyz="-0.006849946385389875 2.1904996055921444e-07 -0.054299981577890996" rpy="0 0 0"/>
    <parent link="r_shoulder_2"/>
    <child link="r_shoulder_3"/>
    <dynamics damping="0.1"/>
  </joint>
  <link name="r_upper_arm">
    <inertial>
      <origin xyz="0.00104763877624129 -0.002559626059706027 -0.05065314965013519" rpy="-0.12008540036084188 0.2297886675301102 -1.8533144378692001"/>
      <mass value="1.8703"/>
      <inertia ixx="0.0033005254762146084" ixy="-7.856912537486065e-05" ixz="0.0005314736736640653" iyy="0.003275179877659797" iyz="0.00032042055112711576" izz="0.0016353876705876744"/>
    </inertial>
    <visual>
      <origin xyz="0.030743123698670136 0.14064025735327973 0.09423445143102875" rpy="-0.12008540036084188 0.2297886675301102 -1.8533144378692001"/>
      <geometry>
        <mesh filename="package://iRonCub-Mk3/iRonCub/meshes/stl/sim_icub3_r_upperarm_prt.stl" scale="0.001 0.001 0.001"/>
      </geometry>
      <material name="red">
        <color rgba="0.1 0.8 0.1 1"/>
      </material>
    </visual>
    <collision>
      <origin xyz="0.030743123698670136 0.14064025735327973 0.09423445143102875" rpy="-0.12008540036084188 0.2297886675301102 -1.8533144378692001"/>
      <geometry>
        <mesh filename="package://iRonCub-Mk3/iRonCub/meshes/stl/sim_icub3_r_upperarm_prt.stl" scale="0.001 0.001 0.001"/>
      </geometry>
    </collision>
  </link>
  <joint name="r_shoulder_yaw" type="revolute">
    <origin xyz="0 4.2183273077367467e-07 -0.02249994137315358" rpy="0 0 0"/>
    <axis xyz="-3.787621790513063e-08 2.805197706068352e-08 1.0000002566182309"/>
    <parent link="r_shoulder_3"/>
    <child link="r_upper_arm"/>
    <limit effort="50000" lower="-0.8726646259971648" upper="1.3962634015954636" velocity="120.0"/>
    <dynamics damping="2.0" friction="0.0"/>
  </joint>
  <link name="r_elbow_1">
    <inertial>
      <origin xyz="-0.0042210586272278874 -0.00045736337500790203 -0.0010160983262984813" rpy="-0.12008540036084188 0.2297886675301102 -1.8533144378692001"/>
      <mass value="0.107261"/>
      <inertia ixx="1.40525e-05" ixy="-1.76005e-06" ixz="-3.59476e-06" iyy="2.17508e-05" iyz="-8.29645e-07" izz="2.70785e-05"/>
    </inertial>
    <visual>
      <origin xyz="0.02074319177606632 0.13914061722125232 0.21793478892057525" rpy="-0.12008540036084188 0.2297886675301102 -1.8533144378692001"/>
      <geometry>
        <mesh filename="package://iRonCub-Mk3/iRonCub/meshes/stl/sim_icub3_r_elbow_prt.stl" scale="0.001 0.001 0.001"/>
      </geometry>
      <material name="blue">
        <color rgba="1 1 1 1"/>
      </material>
    </visual>
    <collision>
      <origin xyz="0.02074319177606632 0.13914061722125232 0.21793478892057525" rpy="-0.12008540036084188 0.2297886675301102 -1.8533144378692001"/>
      <geometry>
        <mesh filename="package://iRonCub-Mk3/iRonCub/meshes/stl/sim_icub3_r_elbow_prt.stl" scale="0.001 0.001 0.001"/>
      </geometry>
    </collision>
  </link>
  <joint name="r_elbow" type="revolute">
    <origin xyz="0.009999931922603816 0.0014996401320274133 -0.1237003374895465" rpy="0 0 0"/>
    <axis xyz="2.4949582809984105e-07 -1.0000002733514362 2.7942487004772865e-08"/>
    <parent link="r_upper_arm"/>
    <child link="r_elbow_1"/>
    <limit effort="50000" lower="-0.05235987755982989" upper="1.3089969389957472" velocity="120.0"/>
    <dynamics damping="2.0" friction="0.0"/>
  </joint>
  <link name="R_FOREARM"/>
  <joint name="R_FOREARM_fixed_joint" type="fixed">
    <origin xyz="-0.01499999725199383 -0.0019999689733820603 0.0060001905432816305" rpy="1.570796451552234 -1.5707960126779352 0"/>
    <parent link="r_elbow_1"/>
    <child link="R_FOREARM"/>
    <dynamics damping="0.1"/>
  </joint>
  <link name="r_forearm">
    <inertial>
      <origin xyz="-0.13145056911634542 6.584926183615669e-05 0.023664093429151656" rpy="0.7853977427514093 -1.2085781829840494 2.2689286834936673"/>
      <mass value="0.82771"/>
      <inertia ixx="0.0019343" ixy="-0.000250774" ixz="0.000415154" iyy="0.0032194" iyz="0.000153298" izz="0.004138"/>
    </inertial>
    <visual>
      <origin xyz="0 0 0" rpy="2.9671 0 0"/>
      <geometry>
        <mesh filename="[local-path]\Documents\GitHub\element_co-generative-cad\Mode_frontierAnalayses\jetpack_forearm_simulink_controller\jetpack_forearm_control_simulink_controller_00066\proc\00000-00999\00446\Matlab26_00000\cogen_001_p_002.prt_ascii.stl" scale="0.001 0.001 0.001"/>
      </geometry>
      <material name="yellow">
        <color rgba="0 0 0.8 1"/>
      </material>
    </visual>
    <collision>
      <origin xyz="0.21193456418652473 -0.0357431759934032 -0.14114064083593317" rpy="0.7853977427514093 -1.2085781829840494 2.2689286834936673"/>
      <geometry>
        <mesh filename="package://iRonCub-Mk3/iRonCub/meshes/stl/sim_icub3_r_elbow_prosup_prt.stl" scale="0.001 0.001 0.001"/>
      </geometry>
    </collision>
  </link>
  <joint name="r_prosup_joint" type="fixed">
    <origin xyz="-0.01499999725199383 -0.0019999689733820603 0.0060001905432816305" rpy="1.570796451552234 -1.5707960126779352 0"/>
    <parent link="r_elbow_1"/>
    <child link="r_forearm"/>
    <dynamics damping="0.1"/>
  </joint>
  <link name="r_arm_jet_turbine">
    <inertial>
      <origin xyz="7.185032821210857e-07 3.9258985742862684e-07 -0.15814251758881814" rpy="3.0215072134275287 -0.22978871932764794 0.5443178016082791"/>
      <mass value="2.155"/>
      <inertia ixx="-0.00934757" ixy="0.000261972" ixz="-0.00217099" iyy="-0.00972494" iyz="-0.00111186" izz="-0.000645129"/>
    </inertial>
    <visual>
      <origin xyz="-0.21430267906834452 -0.09434867402057348 -0.5299364637555667" rpy="3.0215072134275287 -0.22978871932764794 0.5443178016082791"/>
      <geometry>
        <mesh filename="package://iRonCub-Mk3/iRonCub/meshes/stl/sim_sea_r_arm_p250_prt.stl" scale="0.001 0.001 0.001"/>
      </geometry>
      <material name="pink">
        <color rgba="1 1 1 1"/>
      </material>
    </visual>
    <collision>
      <origin xyz="-0.21430267906834452 -0.09434867402057348 -0.5299364637555667" rpy="3.0215072134275287 -0.22978871932764794 0.5443178016082791"/>
      <geometry>
        <mesh filename="package://iRonCub-Mk3/iRonCub/meshes/stl/sim_sea_r_arm_p250_prt.stl" scale="0.001 0.001 0.001"/>
      </geometry>
    </collision>
  </link>
  <joint name="r_elbow_turbine" type="fixed">
    <origin xyz="-0.34           0         0.1" rpy="1.5708      -1.309     -1.5708"/>
    <parent link="r_forearm"/>
    <child link="r_arm_jet_turbine"/>
    <dynamics damping="0.1"/>
  </joint>
  <link name="base_link"/>
  <joint name="base_link_fixed_joint" type="fixed">
<origin xyz="0 0 0" rpy="0 -0 0"/>
<axis xyz="0 0 0"/>
<parent link="root_link"/>
<child link="base_link"/>
</joint>
  <gazebo reference="r_arm_ft_sensor">
<preserveFixedJoint>true</preserveFixedJoint>
<!-- For compatibility with SDFormat < 4.4 -->
<disableFixedJointLumping>true</disableFixedJointLumping>
</gazebo>
  <gazebo reference="r_jet_ft_sensor">
<preserveFixedJoint>true</preserveFixedJoint>
<!-- For compatibility with SDFormat < 4.4 -->
<disableFixedJointLumping>true</disableFixedJointLumping>
</gazebo>
  <gazebo reference="l_jet_ft_sensor">
<preserveFixedJoint>true</preserveFixedJoint>
<!-- For compatibility with SDFormat < 4.4 -->
<disableFixedJointLumping>true</disableFixedJointLumping>
</gazebo>
  <gazebo reference="l_arm_ft_sensor">
<preserveFixedJoint>true</preserveFixedJoint>
<!-- For compatibility with SDFormat < 4.4 -->
<disableFixedJointLumping>true</disableFixedJointLumping>
</gazebo>
  <gazebo reference="l_foot_front_ft_sensor">
<preserveFixedJoint>true</preserveFixedJoint>
<!-- For compatibility with SDFormat < 4.4 -->
<disableFixedJointLumping>true</disableFixedJointLumping>
</gazebo>
  <gazebo reference="l_foot_rear_ft_sensor">
<preserveFixedJoint>true</preserveFixedJoint>
<!-- For compatibility with SDFormat < 4.4 -->
<disableFixedJointLumping>true</disableFixedJointLumping>
</gazebo>
  <gazebo reference="l_foot_front">
  <collision> <surface> <bounce>
    <restitution_coefficient>0</restitution_coefficient>
    <threshold>100000</threshold>
  </bounce> </surface> </collision>
  <maxContacts>4</maxContacts>
  <kp>18000000</kp>
  <kd>100</kd>
  <maxVel>100</maxVel>
  <minDepth>0.0001</minDepth>
  <mu1>1</mu1>
  <mu2>1</mu2>
  <fdir1>0 0 0</fdir1>
</gazebo>
  <gazebo reference="l_foot_rear">
  <collision> <surface> <bounce>
    <restitution_coefficient>0</restitution_coefficient>
    <threshold>100000</threshold>
  </bounce> </surface> </collision>
  <maxContacts>4</maxContacts>
  <kp>18000000</kp>
  <kd>100</kd>
  <maxVel>100</maxVel>
  <minDepth>0.0001</minDepth>
  <mu1>1</mu1>
  <mu2>1</mu2>
  <fdir1>0 0 0</fdir1>
</gazebo>
  <gazebo>
  <plugin name="controlboard_left_leg" filename="libgazebo_yarp_controlboard.so">
    <yarpConfigurationFile>model://iRonCub-Mk3/iRonCub/conf/gazebo_icub_left_leg.ini</yarpConfigurationFile>
  </plugin>
</gazebo>
  <gazebo reference="l_leg_ft_sensor">
<preserveFixedJoint>true</preserveFixedJoint>
<!-- For compatibility with SDFormat < 4.4 -->
<disableFixedJointLumping>true</disableFixedJointLumping>
</gazebo>
  <gazebo reference="r_leg_ft_sensor">
<preserveFixedJoint>true</preserveFixedJoint>
<!-- For compatibility with SDFormat < 4.4 -->
<disableFixedJointLumping>true</disableFixedJointLumping>
</gazebo>
  <gazebo reference="r_foot_front_ft_sensor">
<preserveFixedJoint>true</preserveFixedJoint>
<!-- For compatibility with SDFormat < 4.4 -->
<disableFixedJointLumping>true</disableFixedJointLumping>
</gazebo>
  <gazebo reference="r_foot_rear_ft_sensor">
<preserveFixedJoint>true</preserveFixedJoint>
<!-- For compatibility with SDFormat < 4.4 -->
<disableFixedJointLumping>true</disableFixedJointLumping>
</gazebo>
  <gazebo reference="r_foot_front">
  <collision> <surface> <bounce>
    <restitution_coefficient>0</restitution_coefficient>
    <threshold>100000</threshold>
  </bounce> </surface> </collision>
  <maxContacts>4</maxContacts>
  <kp>18000000</kp>
  <kd>100</kd>
  <maxVel>100</maxVel>
  <minDepth>0.0001</minDepth>
  <mu1>1</mu1>
  <mu2>1</mu2>
  <fdir1>0 0 0</fdir1>
</gazebo>
  <gazebo reference="r_foot_rear">
  <collision> <surface> <bounce>
    <restitution_coefficient>0</restitution_coefficient>
    <threshold>100000</threshold>
  </bounce> </surface> </collision>
  <maxContacts>4</maxContacts>
  <kp>18000000</kp>
  <kd>100</kd>
  <maxVel>100</maxVel>
  <minDepth>0.0001</minDepth>
  <mu1>1</mu1>
  <mu2>1</mu2>
  <fdir1>0 0 0</fdir1>
</gazebo>
  <gazebo reference="r_hip_pitch">
    <implicitSpringDamper>1</implicitSpringDamper>
</gazebo>
  <gazebo reference="r_hip_roll">
    <implicitSpringDamper>1</implicitSpringDamper>
</gazebo>
  <gazebo reference="r_hip_yaw">
    <implicitSpringDamper>1</implicitSpringDamper>
</gazebo>
  <gazebo reference="r_knee">
    <implicitSpringDamper>1</implicitSpringDamper>
</gazebo>
  <gazebo reference="r_ankle_pitch">
    <implicitSpringDamper>1</implicitSpringDamper>
</gazebo>
  <gazebo reference="r_ankle_roll">
    <implicitSpringDamper>1</implicitSpringDamper>
</gazebo>
  <gazebo reference="l_hip_pitch">
    <implicitSpringDamper>1</implicitSpringDamper>
</gazebo>
  <gazebo reference="l_hip_roll">
    <implicitSpringDamper>1</implicitSpringDamper>
</gazebo>
  <gazebo reference="l_hip_yaw">
    <implicitSpringDamper>1</implicitSpringDamper>
</gazebo>
  <gazebo reference="l_knee">
    <implicitSpringDamper>1</implicitSpringDamper>
</gazebo>
  <gazebo reference="l_ankle_pitch">
    <implicitSpringDamper>1</implicitSpringDamper>
</gazebo>
  <gazebo reference="l_ankle_roll">
    <implicitSpringDamper>1</implicitSpringDamper>
</gazebo>
  <gazebo reference="torso_pitch">
    <implicitSpringDamper>1</implicitSpringDamper>
</gazebo>
  <gazebo reference="torso_roll">
    <implicitSpringDamper>1</implicitSpringDamper>
</gazebo>
  <gazebo reference="torso_yaw">
    <implicitSpringDamper>1</implicitSpringDamper>
</gazebo>
  <gazebo reference="r_shoulder_pitch">
    <implicitSpringDamper>1</implicitSpringDamper>
</gazebo>
  <gazebo reference="r_shoulder_roll">
    <implicitSpringDamper>1</implicitSpringDamper>
</gazebo>
  <gazebo reference="r_shoulder_yaw">
    <implicitSpringDamper>1</implicitSpringDamper>
</gazebo>
  <gazebo reference="l_shoulder_pitch">
    <implicitSpringDamper>1</implicitSpringDamper>
</gazebo>
  <gazebo reference="l_shoulder_roll">
    <implicitSpringDamper>1</implicitSpringDamper>
</gazebo>
  <gazebo reference="l_shoulder_yaw">
    <implicitSpringDamper>1</implicitSpringDamper>
</gazebo>
  <gazebo reference="l_elbow_turbine">
<disableFixedJointLumping>true</disableFixedJointLumping>
</gazebo>
  <gazebo reference="jetpack">
<disableFixedJointLumping>true</disableFixedJointLumping>
</gazebo>
  <gazebo reference="r_elbow_turbine">
<disableFixedJointLumping>true</disableFixedJointLumping>
</gazebo>
  <gazebo reference="neck_pitch">
<implicitSpringDamper>1</implicitSpringDamper>
</gazebo>
  <gazebo reference="neck_roll">
    <implicitSpringDamper>1</implicitSpringDamper>
</gazebo>
  <gazebo reference="neck_yaw">
    <implicitSpringDamper>1</implicitSpringDamper>
</gazebo>
  <gazebo reference="l_shoulder_pitch">
  <implicitSpringDamper>1</implicitSpringDamper>
</gazebo>
  <gazebo reference="l_shoulder_roll">
  <implicitSpringDamper>1</implicitSpringDamper>
</gazebo>
  <gazebo reference="l_shoulder_yaw">
  <implicitSpringDamper>1</implicitSpringDamper>
</gazebo>
  <gazebo reference="l_elbow">
  <implicitSpringDamper>1</implicitSpringDamper>
</gazebo>
  <gazebo reference="r_shoulder_pitch">
  <implicitSpringDamper>1</implicitSpringDamper>
</gazebo>
  <gazebo reference="r_shoulder_roll">
  <implicitSpringDamper>1</implicitSpringDamper>
</gazebo>
  <gazebo reference="r_shoulder_yaw">
  <implicitSpringDamper>1</implicitSpringDamper>
</gazebo>
  <gazebo reference="r_elbow">
  <implicitSpringDamper>1</implicitSpringDamper>
</gazebo>
  <gazebo>
<plugin name="controlboard_right_arm_no_hand" filename="libgazebo_yarp_controlboard.so">
  <yarpConfigurationFile>model://iRonCub-Mk3/iRonCub/conf/gazebo_icub_right_arm_no_hand_for_no_hand_model.ini</yarpConfigurationFile>
  <initialConfiguration>-0.52 0.52 0 0.785 0 0 0.0</initialConfiguration>
</plugin>
<plugin name="controlboard_left_arm_no_hand" filename="libgazebo_yarp_controlboard.so">
  <yarpConfigurationFile>model://iRonCub-Mk3/iRonCub/conf/gazebo_icub_left_arm_no_hand_for_no_hand_model.ini</yarpConfigurationFile>
  <initialConfiguration>-0.52 0.52 0 0.785 0 0 0.0</initialConfiguration>
</plugin>
<plugin name="controlboard_right_leg" filename="libgazebo_yarp_controlboard.so">
  <yarpConfigurationFile>model://iRonCub-Mk3/iRonCub/conf/gazebo_icub_right_leg.ini</yarpConfigurationFile>
</plugin>
<plugin name="controlboard_torso" filename="libgazebo_yarp_controlboard.so">
  <yarpConfigurationFile>model://iRonCub-Mk3/iRonCub/conf/gazebo_icub_torso.ini</yarpConfigurationFile>
</plugin>
<plugin name="controlboard_head_without_eyes" filename="libgazebo_yarp_controlboard.so">
  <yarpConfigurationFile>model://iRonCub-Mk3/iRonCub/conf/gazebo_icub_head_without_eyes_V2_7.ini</yarpConfigurationFile>
</plugin>
<plugin name="jets-plugin" filename="libjets-plugin.so">
  <yarpConfigurationFile>model://iRonCub-Mk3/iRonCub/conf/jets.ini</yarpConfigurationFile>
</plugin>
<plugin name="basestate" filename="libgazebo_yarp_basestate.so">
    <yarpConfigurationFile>model://iRonCub-Mk3/iRonCub/conf/base.ini</yarpConfigurationFile>
</plugin>
<plugin name="robotinterface" filename="libgazebo_yarp_robotinterface.so">
  <yarpRobotInterfaceConfigurationFile>model://iRonCub-Mk3/iRonCub/conf/iRonCub.xml</yarpRobotInterfaceConfigurationFile>
</plugin>
</gazebo>
  <gazebo reference="l_foot_rear">
    <visual>
      <material>
        <ambient>0.55 0.55 0.55 1.0</ambient>
        <diffuse>1.0 1.0 1.0 1.0</diffuse>
        <specular>0.6 0.6 0.6 1.0</specular>
      </material>
    </visual>
  </gazebo>
  <gazebo reference="l_foot_front">
    <visual>
      <material>
        <ambient>0.55 0.55 0.55 1.0</ambient>
        <diffuse>1.0 1.0 1.0 1.0</diffuse>
        <specular>0.6 0.6 0.6 1.0</specular>
      </material>
    </visual>
  </gazebo>
  <gazebo reference="r_foot_front">
    <visual>
      <material>
        <ambient>0.55 0.55 0.55 1.0</ambient>
        <diffuse>1.0 1.0 1.0 1.0</diffuse>
        <specular>0.6 0.6 0.6 1.0</specular>
      </material>
    </visual>
  </gazebo>
  <gazebo reference="r_foot_rear">
    <visual>
      <material>
        <ambient>0.55 0.55 0.55 1.0</ambient>
        <diffuse>1.0 1.0 1.0 1.0</diffuse>
        <specular>0.6 0.6 0.6 1.0</specular>
      </material>
    </visual>
  </gazebo>
  <gazebo reference="chest">
    <visual>
      <material>
        <ambient>0.18823499999999999 0.18823499999999999 0.18823499999999999 1.0</ambient>
        <diffuse>0.2823525 0.2823525 0.2823525 1.0</diffuse>
        <specular>0.18823499999999999 0.18823499999999999 0.18823499999999999 1.0</specular>
      </material>
    </visual>
  </gazebo>
  <gazebo reference="l_arm_ft_sensor">
    <sensor name="l_arm_ft" type="force_torque">
      <always_on>1</always_on>
      <update_rate>100</update_rate>
      <force_torque>
        <frame>child</frame>
        <measure_direction>child_to_parent</measure_direction>
      </force_torque>
      <plugin name="left_arm_ft_plugin" filename="libgazebo_yarp_forcetorque.so">
  <yarpConfigurationFile>model://iRonCub-Mk3/iRonCub/conf/FT/gazebo_icub_left_arm_ft.ini</yarpConfigurationFile>
</plugin>
    </sensor>
  </gazebo>
  <sensor name="l_arm_ft" type="force_torque">
    <parent joint="l_arm_ft_sensor"/>
    <force_torque>
      <frame>child</frame>
      <measure_direction>child_to_parent</measure_direction>
    </force_torque>
  </sensor>
  <gazebo reference="r_arm_ft_sensor">
    <sensor name="r_arm_ft" type="force_torque">
      <always_on>1</always_on>
      <update_rate>100</update_rate>
      <force_torque>
        <frame>child</frame>
        <measure_direction>child_to_parent</measure_direction>
      </force_torque>
      <plugin name="right_arm_ft_plugin" filename="libgazebo_yarp_forcetorque.so">
  <yarpConfigurationFile>model://iRonCub-Mk3/iRonCub/conf/FT/gazebo_icub_right_arm_ft.ini</yarpConfigurationFile>
</plugin>
    </sensor>
  </gazebo>
  <sensor name="r_arm_ft" type="force_torque">
    <parent joint="r_arm_ft_sensor"/>
    <force_torque>
      <frame>child</frame>
      <measure_direction>child_to_parent</measure_direction>
    </force_torque>
  </sensor>
  <gazebo reference="l_foot_front_ft_sensor">
    <sensor name="l_foot_front_ft" type="force_torque">
      <always_on>1</always_on>
      <update_rate>100</update_rate>
      <force_torque>
        <frame>child</frame>
        <measure_direction>child_to_parent</measure_direction>
      </force_torque>
      <plugin name="left_foot_front_ft_plugin" filename="libgazebo_yarp_forcetorque.so">
  <yarpConfigurationFile>model://iRonCub-Mk3/iRonCub/conf/FT/gazebo_icub_left_foot_front_ft.ini</yarpConfigurationFile>
</plugin>
    </sensor>
  </gazebo>
  <sensor name="l_foot_front_ft" type="force_torque">
    <parent joint="l_foot_front_ft_sensor"/>
    <force_torque>
      <frame>child</frame>
      <measure_direction>child_to_parent</measure_direction>
    </force_torque>
  </sensor>
  <gazebo reference="l_foot_rear_ft_sensor">
    <sensor name="l_foot_rear_ft" type="force_torque">
      <always_on>1</always_on>
      <update_rate>100</update_rate>
      <force_torque>
        <frame>child</frame>
        <measure_direction>child_to_parent</measure_direction>
      </force_torque>
      <plugin name="left_foot_rear_ft_plugin" filename="libgazebo_yarp_forcetorque.so">
  <yarpConfigurationFile>model://iRonCub-Mk3/iRonCub/conf/FT/gazebo_icub_left_foot_rear_ft.ini</yarpConfigurationFile>
</plugin>
    </sensor>
  </gazebo>
  <sensor name="l_foot_rear_ft" type="force_torque">
    <parent joint="l_foot_rear_ft_sensor"/>
    <force_torque>
      <frame>child</frame>
      <measure_direction>child_to_parent</measure_direction>
    </force_torque>
  </sensor>
  <gazebo reference="r_foot_front_ft_sensor">
    <sensor name="r_foot_front_ft" type="force_torque">
      <always_on>1</always_on>
      <update_rate>100</update_rate>
      <force_torque>
        <frame>child</frame>
        <measure_direction>child_to_parent</measure_direction>
      </force_torque>
      <plugin name="right_foot_front_ft_sensor_plugin" filename="libgazebo_yarp_forcetorque.so">
  <yarpConfigurationFile>model://iRonCub-Mk3/iRonCub/conf/FT/gazebo_icub_right_foot_front_ft.ini</yarpConfigurationFile>
</plugin>
    </sensor>
  </gazebo>
  <sensor name="r_foot_front_ft" type="force_torque">
    <parent joint="r_foot_front_ft_sensor"/>
    <force_torque>
      <frame>child</frame>
      <measure_direction>child_to_parent</measure_direction>
    </force_torque>
  </sensor>
  <gazebo reference="r_foot_rear_ft_sensor">
    <sensor name="r_foot_rear_ft" type="force_torque">
      <always_on>1</always_on>
      <update_rate>100</update_rate>
      <force_torque>
        <frame>child</frame>
        <measure_direction>child_to_parent</measure_direction>
      </force_torque>
      <plugin name="right_foot_rear_ft_sensor_plugin" filename="libgazebo_yarp_forcetorque.so">
  <yarpConfigurationFile>model://iRonCub-Mk3/iRonCub/conf/FT/gazebo_icub_right_foot_rear_ft.ini</yarpConfigurationFile>
</plugin>
    </sensor>
  </gazebo>
  <sensor name="r_foot_rear_ft" type="force_torque">
    <parent joint="r_foot_rear_ft_sensor"/>
    <force_torque>
      <frame>child</frame>
      <measure_direction>child_to_parent</measure_direction>
    </force_torque>
  </sensor>
  <gazebo reference="head">
    <sensor name="head_imu" type="imu">
      <always_on>1</always_on>
      <update_rate>100</update_rate>
      <pose>0.0035000000000000005 0.0055 0.10133400000000001 3.141592653589793 -0.0 -1.5707963267948966</pose>
      <plugin name="iCub_yarp_gazebo_plugin_IMU" filename="libgazebo_yarp_imu.so">
    <yarpConfigurationFile>model://iRonCub-Mk3/iRonCub/conf/gazebo_icub_inertial.ini</yarpConfigurationFile>
</plugin>
    </sensor>
  </gazebo>
  <sensor name="head_imu" type="accelerometer">
    <parent link="head"/>
    <origin rpy="3.141592653589793 -0.0 -1.5707963267948966" xyz="0.0035000000000000005 0.0055 0.10133400000000001"/>
  </sensor>
  <gazebo reference="chest">
    <sensor name="chest_imu" type="imu">
      <always_on>1</always_on>
      <update_rate>100</update_rate>
      <pose>0.100121 0.0076 0.0816279 -3.141592653589793 -1.5707963267948966 0.0</pose>
      <plugin name="chest_plugin_IMU" filename="libgazebo_yarp_imu.so">
    <yarpConfigurationFile>model://iRonCub-Mk3/iRonCub/conf/gazebo_icub_xsens_inertial.ini</yarpConfigurationFile>
</plugin>
    </sensor>
  </gazebo>
  <sensor name="chest_imu" type="accelerometer">
    <parent link="chest"/>
    <origin rpy="-3.141592653589793 -1.5707963267948966 0.0" xyz="0.100121 0.0076 0.0816279"/>
  </sensor>
  <gazebo>
    <pose>0.0 0.0 0.64 0.0 0.0 0.0</pose>
  </gazebo>
</robot>
